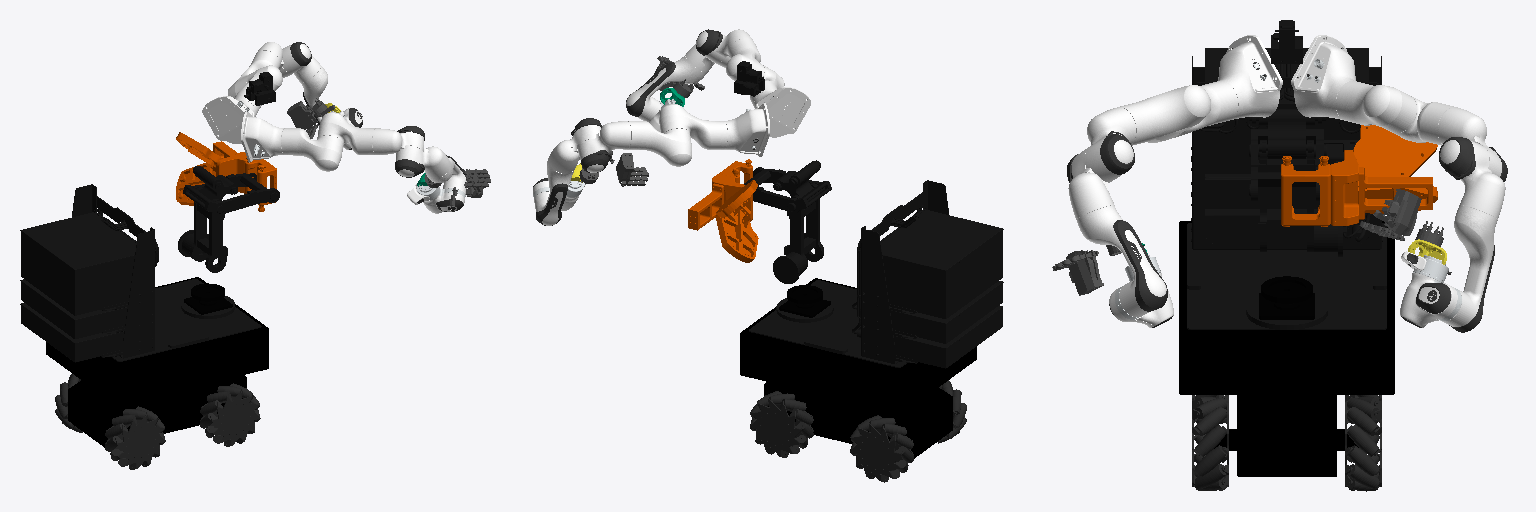
--- Facts derived from the render (not from the file) ---
Views: 3 orthographic renders of the robot side by side, from view 1: azimuth 30°, elevation 25°; view 2: azimuth 150°, elevation 25°; view 3: azimuth 270°, elevation 25°.
Robot: curi — 112 links, 111 joints (85 revolute, 4 continuous, 21 fixed, 1 floating); root link world; default pose: all joints at 0 but 2 set to mid-range because 0 is outside their limits (panda_left_joint4 = -1.57, panda_right_joint4 = -1.57).
Links seen in each view (by area): view 1: control_box, summit_xls_base_link, summit_xls_back_right_wheel_link, torso_end, summit_xls_front_right_wheel_link, torso_link_b2, torso_link_c1, panda_right_link1, panda_left_link0, panda_right_link0, panda_right_link4, panda_right_link2 (+11 smaller); view 2: control_box, summit_xls_base_link, torso_end, summit_xls_back_left_wheel_link, summit_xls_front_left_wheel_link, torso_link_b2, panda_right_link5, panda_left_link2, panda_right_link0, panda_left_link1, panda_left_link0, panda_left_link3 (+8 smaller); view 3: control_box, summit_xls_base_link, torso_end, panda_right_link5, panda_left_link0, panda_right_link0, panda_left_link5, summit_xls_front_right_wheel_link, summit_xls_front_left_wheel_link, panda_right_link2, panda_left_link4, panda_left_link1 (+15 smaller).
Boxes of the visible links, box(x1,y1,x2,y2) form: control_box: box(20, 184, 261, 362); summit_xls_base_link: box(46, 277, 268, 447); summit_xls_back_right_wheel_link: box(105, 406, 165, 469); torso_end: box(176, 132, 276, 211); summit_xls_front_right_wheel_link: box(200, 383, 260, 446); torso_link_b2: box(178, 187, 227, 272); torso_link_c1: box(183, 173, 279, 215); panda_right_link1: box(281, 128, 343, 171); panda_left_link0: box(202, 96, 255, 143); panda_right_link0: box(241, 111, 284, 162); panda_right_link4: box(395, 145, 449, 177); panda_right_link2: box(317, 112, 375, 154); control_box: box(749, 180, 1003, 368); summit_xls_base_link: box(740, 278, 976, 458); torso_end: box(688, 159, 758, 262); summit_xls_back_left_wheel_link: box(850, 415, 913, 482); summit_xls_front_left_wheel_link: box(750, 391, 813, 457); torso_link_b2: box(773, 183, 823, 283); panda_right_link5: box(626, 54, 706, 121); panda_left_link2: box(628, 121, 691, 166); panda_right_link0: box(754, 87, 810, 137); panda_left_link1: box(659, 104, 727, 149); panda_left_link0: box(724, 103, 769, 156); panda_left_link3: box(578, 121, 630, 172); control_box: box(1187, 48, 1386, 329); summit_xls_base_link: box(1179, 221, 1394, 476); torso_end: box(1281, 125, 1437, 226); panda_right_link5: box(1077, 205, 1167, 316); panda_left_link0: box(1291, 35, 1355, 119); panda_right_link0: box(1218, 35, 1282, 119); panda_left_link5: box(1440, 205, 1497, 332); summit_xls_front_right_wheel_link: box(1192, 397, 1228, 490); summit_xls_front_left_wheel_link: box(1345, 397, 1381, 491); panda_right_link2: box(1120, 85, 1210, 145); panda_left_link4: box(1439, 137, 1505, 219); panda_left_link1: box(1336, 81, 1416, 132).
Bounding box of the posed robot: 1.76 × 1.22 × 1.51 m (x, y, z).
73 mesh visuals loaded from 32 distinct referenced files (9 binary STL, 20 Collada DAE); not drawn: 3 (reference not matched to a file when rendering).

URDF robot description (curi):
<?xml version="1.0" ?>
<!-- =================================================================================== -->
<!-- |    This document was autogenerated by xacro from ../robots/curi.urdf.xacro      | -->
<!-- |    EDITING THIS FILE BY HAND IS NOT RECOMMENDED                                 | -->
<!-- =================================================================================== -->
<robot name="curi">
  <!-- in kg-->
  <!-- =============================================================== -->
  <!-- || This file does not contain official inertial properties   || -->
  <!-- || of panda robot. The values are from the identification    || -->
  <!-- || results published in: Identification of the Franka Emika  || -->
  <!-- || PandaRobot With Retrieval of Feasible Parameters Using    || -->
  <!-- || Penalty-Based Optimization                                || -->
  <!-- || by: Claudio Gaz, Marco Cognetti, Alexander Oliva,         || -->
  <!-- || Paolo Robuffo Giordano, Alessandro de Luca                || -->
  <!-- =============================================================== -->
  <link name="world"/>
  <material name="qbhand/optional">
  <color rgba="0.0 0.5 0.8 1.0"/>
  </material>
  <material name="qbhand/base">
    <color rgba="0.35 0.35 0.35 1.0"/>
  </material>
  <material name="qbhand/palm">
    <color rgba="0.35 0.35 0.35 1.0"/>
  </material>
  <material name="qbhand/knuckle">
    <color rgba="0.35 0.35 0.35 1.0"/>
  </material>
  <material name="qbhand/proximal">
    <color rgba="0.35 0.35 0.35 1.0"/>
  </material>
  <material name="qbhand/middle">
    <color rgba="0.35 0.35 0.35 1.0"/>
  </material>
  <material name="qbhand/distal">
    <color rgba="0.35 0.35 0.35 1.0"/>
  </material>
  <material name="qbhand/default">
    <color rgba="0.35 0.35 0.35 1.0"/>
  </material>
  <joint name="reference" type="floating">
    <parent link="world"/>
    <child link="summit_xls_base_footprint"/>
  </joint>
  <link name="summit_xls_base_footprint">
    <visual>
      <origin rpy="0 0 0" xyz="0 0 0"/>
      <geometry>
        <box size="0.001 0.001 0.001"/>
      </geometry>
    </visual>
  </link>
  <joint name="summit_xls_base_footprint_joint" type="fixed">
    <origin rpy="0 0 0" xyz="0 0 0.127"/>
    <parent link="summit_xls_base_footprint"/>
    <child link="summit_xls_base_link"/>
  </joint>
  <!-- BASE_LINK -->
  <link name="summit_xls_base_link">
    <inertial>
      <mass value="125.0"/>
      <origin xyz="0 0 0"/>
      <inertia ixx="1.391" ixy="0.004" ixz="0.0" iyy="6.853" iyz="0.0" izz="6.125"/>
    </inertial>
    <visual>
      <origin rpy="0 0 0" xyz="0 0 0"/>
      <geometry>
        <mesh filename="../meshes/robotnik/bases/summit_xls_chassis.dae"/>
      </geometry>
      <material name="black">
        <color rgba="0.0 0.0 0.0 1"/>
      </material>
    </visual>
    <collision>
      <origin rpy="0 0 0 " xyz="0 0 0"/>
      <geometry>
        <mesh filename="../meshes/robotnik/bases/summit_xls_chassis.stl"/>
      </geometry>
    </collision>
  </link>
  <joint name="summit_xls_front_right_wheel_joint" type="continuous">
    <parent link="summit_xls_base_link"/>
    <child link="summit_xls_front_right_wheel_link"/>
    <origin rpy="0 0 0" xyz="0.2225 -0.2045 0.0"/>
    <axis rpy="0 0 0" xyz="0 1 0"/>
    <limit effort="100" velocity="100"/>
    <joint_properties damping="0.0" friction="0.0"/>
  </joint>
  <link name="summit_xls_front_right_wheel_link">
    <visual>
      <origin rpy="0 0 0" xyz="0 0 0"/>
      <geometry>
        <mesh filename="../meshes/robotnik/wheels/omni_wheel_2.dae"/>
      </geometry>
      <material name="darkgrey">
        <color rgba="0.2 0.2 0.2 1"/>
      </material>
    </visual>
    <collision>
      <origin rpy="1.5707963267948966 0 0" xyz="0 0 0"/>
      <geometry>
        <cylinder length="0.087" radius="0.127"/>
      </geometry>
    </collision>
    <inertial>
      <mass value="6.5"/>
      <origin xyz="0 0 0"/>
      <inertia ixx="0.0303095" ixy="0" ixz="0" iyy="0.05241925" iyz="0" izz="0.0303095"/>
    </inertial>
  </link>
  <joint name="summit_xls_front_left_wheel_joint" type="continuous">
    <parent link="summit_xls_base_link"/>
    <child link="summit_xls_front_left_wheel_link"/>
    <origin rpy="0 0 0" xyz="0.2225 0.2045 0.0"/>
    <axis rpy="0 0 0" xyz="0 1 0"/>
    <limit effort="100" velocity="100"/>
    <joint_properties damping="0.0" friction="0.0"/>
  </joint>
  <link name="summit_xls_front_left_wheel_link">
    <visual>
      <origin rpy="0 0 0" xyz="0 0 0"/>
      <geometry>
        <mesh filename="../meshes/robotnik/wheels/omni_wheel_1.dae"/>
      </geometry>
      <material name="darkgrey">
        <color rgba="0.2 0.2 0.2 1"/>
      </material>
    </visual>
    <collision>
      <origin rpy="1.5707963267948966 0 0" xyz="0 0 0"/>
      <geometry>
        <cylinder length="0.087" radius="0.127"/>
      </geometry>
    </collision>
    <inertial>
      <mass value="6.5"/>
      <origin xyz="0 0 0"/>
      <inertia ixx="0.0303095" ixy="0" ixz="0" iyy="0.05241925" iyz="0" izz="0.0303095"/>
    </inertial>
  </link>
  <joint name="summit_xls_back_left_wheel_joint" type="continuous">
    <parent link="summit_xls_base_link"/>
    <child link="summit_xls_back_left_wheel_link"/>
    <origin rpy="0 0 0" xyz="-0.2225 0.2045 0.0"/>
    <axis rpy="0 0 0" xyz="0 1 0"/>
    <limit effort="100" velocity="100"/>
    <joint_properties damping="0.0" friction="0.0"/>
  </joint>
  <link name="summit_xls_back_left_wheel_link">
    <visual>
      <origin rpy="0 0 0" xyz="0 0 0"/>
      <geometry>
        <mesh filename="../meshes/robotnik/wheels/omni_wheel_1.dae"/>
      </geometry>
      <material name="darkgrey">
        <color rgba="0.2 0.2 0.2 1"/>
      </material>
    </visual>
    <collision>
      <origin rpy="1.5707963267948966 0 0" xyz="0 0 0"/>
      <geometry>
        <cylinder length="0.087" radius="0.127"/>
      </geometry>
    </collision>
    <inertial>
      <mass value="6.5"/>
      <origin xyz="0 0 0"/>
      <inertia ixx="0.0303095" ixy="0" ixz="0" iyy="0.05241925" iyz="0" izz="0.0303095"/>
    </inertial>
  </link>
  <joint name="summit_xls_back_right_wheel_joint" type="continuous">
    <parent link="summit_xls_base_link"/>
    <child link="summit_xls_back_right_wheel_link"/>
    <origin rpy="0 0 0" xyz="-0.2225 -0.2045 0.0"/>
    <axis rpy="0 0 0" xyz="0 1 0"/>
    <limit effort="100" velocity="100"/>
    <joint_properties damping="0.0" friction="0.0"/>
  </joint>
  <link name="summit_xls_back_right_wheel_link">
    <visual>
      <origin rpy="0 0 0" xyz="0 0 0"/>
      <geometry>
        <mesh filename="../meshes/robotnik/wheels/omni_wheel_2.dae"/>
      </geometry>
      <material name="darkgrey">
        <color rgba="0.2 0.2 0.2 1"/>
      </material>
    </visual>
    <collision>
      <origin rpy="1.5707963267948966 0 0" xyz="0 0 0"/>
      <geometry>
        <cylinder length="0.087" radius="0.127"/>
      </geometry>
    </collision>
    <inertial>
      <mass value="6.5"/>
      <origin xyz="0 0 0"/>
      <inertia ixx="0.0303095" ixy="0" ixz="0" iyy="0.05241925" iyz="0" izz="0.0303095"/>
    </inertial>
  </link>
  <joint name="torso_joint_summit_xls_base_footprint" type="fixed">
    <parent link="summit_xls_base_footprint"/>
    <child link="control_box"/>
    <origin rpy="0 0 0" xyz="0 0 0.52262"/>
  </joint>
  <link name="control_box">
    <visual>
      <origin rpy="0 0 0" xyz="0 0 0"/>
      <geometry>
        <mesh filename="../meshes/clover/visual/control_box.dae"/>
      </geometry>
    </visual>
    <inertial>
      <!-- Estimated guesses from CAD -->
      <origin rpy="0 0 0" xyz="-0.221652 1.4173e-02 0.165597"/>
      <mass value="37.813"/>
      <inertia ixx="1.672305973" ixy="-0.023504956" ixz="-0.565170381" iyy="2.616747309" iyz="0.046623093" izz="2.524344244"/>
    </inertial>
  </link>
  <link name="torso_base1">
    <visual>
      <origin rpy="0 0 0" xyz="0 0 0"/>
      <geometry>
        <mesh filename="../meshes/clover/visual/torso_base1.dae"/>
      </geometry>
    </visual>
    <collision>
      <origin rpy="0 0 0" xyz="0 0 0"/>
      <geometry>
        <mesh filename="../meshes/clover/collision/torso_base1.stl"/>
      </geometry>
    </collision>
    <inertial>
      <origin rpy="0 0 0" xyz="0 0 0.02555"/>
      <mass value="1.18"/>
      <inertia ixx="0.00241116" ixy="0" ixz="0" iyy="0.00241116" iyz="0" izz="0.00362611"/>
    </inertial>
  </link>
  <joint name="torso_joint1" type="fixed">
    <origin rpy="0 0 0" xyz="0.2375 0 0.015"/>
    <parent link="control_box"/>
    <child link="torso_base1"/>
  </joint>
  <link name="torso_base2">
    <visual>
      <origin rpy="0 0 0" xyz="0 0 0"/>
      <geometry>
        <mesh filename="../meshes/clover/visual/torso_base2.dae"/>
      </geometry>
    </visual>
    <collision>
      <origin rpy="0 0 0" xyz="0 0 0"/>
      <geometry>
        <mesh filename="../meshes/clover/collision/torso_base2.stl"/>
      </geometry>
    </collision>
    <inertial>
      <origin rpy="0 0 0" xyz="-0.05478 0.03332 -0.07616"/>
      <mass value="35.66"/>
      <inertia ixx="0.87275935" ixy="-0.06173772" ixz="0.01895727" iyy="0.57302356" iyz="0.11888755" izz="1.06212354"/>
    </inertial>
  </link>
  <joint name="torso_actuated_joint1" type="revolute">
    <safety_controller k_position="100.0" k_velocity="40.0" soft_lower_limit="-1.5" soft_upper_limit="1.5"/>
    <origin rpy="0 0 0" xyz="0 0 0.215"/>
    <parent link="torso_base1"/>
    <child link="torso_base2"/>
    <axis xyz="0 0 1"/>
    <limit acceleration="0.6" effort="300" lower="-1.57" upper="1.57" velocity="0.3"/>
    <dynamics D="1" K="7000" damping="0.003" friction="0.0" mu_coulomb="0" mu_viscous="16"/>
  </joint>
  <link name="torso_link_b2">
    <visual>
      <origin rpy="0 0 0" xyz="0 0 0"/>
      <geometry>
        <mesh filename="../meshes/clover/visual/torso_link_b2.dae"/>
      </geometry>
    </visual>
    <collision>
      <origin rpy="0 0 0" xyz="0 0 0"/>
      <geometry>
        <mesh filename="../meshes/clover/collision/torso_link_b2.stl"/>
      </geometry>
    </collision>
    <inertial>
      <origin rpy="0 0 0" xyz="2.066e-03 2.4036e-02 8.3361e-02"/>
      <mass value="2.698"/>
      <inertia ixx="0.035907338" ixy="-0.000134319" ixz="0.000037769" iyy="0.023944853" iyz="-0.005304362" izz="0.014484777"/>
    </inertial>
  </link>
  <joint name="torso_actuated_joint2" type="fixed">
    <origin rpy="0 0 0" xyz="0 0 0"/>
    <parent link="torso_base2"/>
    <child link="torso_link_b2"/>
  </joint>
  <link name="torso_middle">
    <visual>
      <origin rpy="0 0 0" xyz="0 0 0"/>
      <geometry>
        <mesh filename="../meshes/clover/visual/torso_middle.dae"/>
      </geometry>
    </visual>
    <collision>
      <origin rpy="0 0 0" xyz="0 0 0"/>
      <geometry>
        <mesh filename="../meshes/clover/collision/torso_middle.stl"/>
      </geometry>
    </collision>
    <inertial>
      <origin rpy="0 0 0" xyz="3.2089e-02 0 4.789e-02"/>
      <mass value="2.688"/>
      <inertia ixx="0.00744652" ixy="-0.00003495" ixz="0.000230038" iyy="0.006884728" iyz="0.000041279" izz="0.008084049"/>
    </inertial>
  </link>
  <joint name="torso_joint5" type="fixed">
    <origin rpy="0 0 0" xyz="0 0 0.25"/>
    <parent link="torso_link_b2"/>
    <child link="torso_middle"/>
  </joint>
  <link name="torso_link_c1">
    <visual>
      <origin rpy="0 0 0" xyz="0 0 0"/>
      <geometry>
        <mesh filename="../meshes/clover/visual/torso_link_c1.dae"/>
      </geometry>
    </visual>
    <collision>
      <origin rpy="0 0 0" xyz="0 0 0"/>
      <geometry>
        <mesh filename="../meshes/clover/collision/torso_link_c1.stl"/>
      </geometry>
    </collision>
    <inertial>
      <origin rpy="0 0 0" xyz="0.10533 1.503e-03 9.863e-03"/>
      <mass value="2.4"/>
      <inertia ixx="0.014986407" ixy="-1.7102e-05" ixz="-4.53321e-04" iyy="0.027549549" iyz="-3.557e-05" izz="0.041344611"/>
    </inertial>
  </link>
  <joint name="torso_actuated_joint3" type="fixed">
    <origin rpy="0 0 0" xyz="0 0 0"/>
    <parent link="torso_middle"/>
    <child link="torso_link_c1"/>
  </joint>
  <link name="torso_end">
    <visual>
      <origin rpy="0 0 0" xyz="0 0 0"/>
      <geometry>
        <mesh filename="../meshes/clover/visual/torso_end_v2_yup.dae"/>
      </geometry>
    </visual>
    <collision>
      <origin rpy="0 0 0" xyz="0 0 0"/>
      <geometry>
        <mesh filename="../meshes/clover/collision/torso_end_v2_yup.stl"/>
      </geometry>
    </collision>
    <inertial>
      <origin rpy="0 0 0" xyz="1.3086e-02 0.132e-03 0.184066"/>
      <mass value="12.083"/>
      <inertia ixx="0.146638956" ixy="-2.2432e-05" ixz="-0.012989506" iyy="0.097685785" iyz="-2.19304e-04" izz="0.100449047"/>
    </inertial>
  </link>
  <link name="shell">
    <visual>
      <origin rpy="0 0 0" xyz="0 0 0"/>
      <geometry>
        <mesh filename="../meshes/clover/visual/Shell_v2_Share_yup.dae"/>
      </geometry>
    </visual>
    <collision>
      <origin rpy="0 0 0" xyz="0 0 0"/>
      <geometry>
        <mesh filename="../meshes/clover/collision/Shell_v2_Share_yup.STL"/>
      </geometry>
    </collision>
    <inertial>
      <origin rpy="0 0 0" xyz="0.120384 0.569e-03 6.703e-03"/>
      <mass value="1.63531"/>
      <inertia ixx="0.010693997" ixy="5.645e-06" ixz="-9.4779e-04" iyy="0.026717753" iyz="-8.196e-06" izz="0.036543169"/>
    </inertial>
  </link>
  <joint name="shell_torso_end" type="fixed">
    <parent link="torso_end"/>
    <child link="shell"/>
    <origin rpy="0 0 0" xyz="0 0 0"/>
  </joint>
  <joint name="torso_joint8" type="fixed">
    <origin rpy="0 0 0" xyz="0.25 0 0"/>
    <parent link="torso_link_c1"/>
    <child link="torso_end"/>
  </joint>
  <joint name="head_joint_torso_end" type="fixed">
    <parent link="torso_end"/>
    <child link="head_base"/>
    <origin rpy="0 0 0" xyz="0.02 0 0.3929"/>
  </joint>
  <link name="head_base">
    <visual>
      <origin rpy="0 0 0" xyz="0 0 0"/>
      <geometry>
        <mesh filename="../meshes/clover/visual/head_base.dae"/>
      </geometry>
    </visual>
    <collision>
      <origin rpy="0 0 0" xyz="0 0 0"/>
      <geometry>
        <mesh filename="../meshes/clover/collision/head_base.stl"/>
      </geometry>
    </collision>
    <inertial>
      <!-- Estimated guesses from CAD -->
      <origin rpy="0 0 0" xyz="-1.9726e-02 1.281e-03 2.2693e-02"/>
      <mass value="0.803"/>
      <inertia ixx="6.56432e-04" ixy="-3.4976e-05" ixz="0.652e-6" iyy="6.42664e-04" iyz="-1.577e-06" izz="1.046862e-03"/>
    </inertial>
  </link>
  <joint name="head_actuated_joint1" type="revolute">
    <safety_controller k_position="100.0" k_velocity="40.0" soft_lower_limit="-1.5" soft_upper_limit="1.5"/>
    <origin rpy="0 0 0" xyz="0 0 0.045"/>
    <parent link="head_base"/>
    <child link="head_link1"/>
    <axis xyz="0 0 1"/>
    <limit effort="30" lower="-1.57" upper="1.57" velocity="1.0"/>
    <dynamics D="1" K="7000" damping="0.003" friction="0.0" mu_coulomb="0" mu_viscous="16"/>
  </joint>
  <link name="head_link1">
    <visual>
      <origin rpy="0 0 0" xyz="0 0 0"/>
      <geometry>
        <mesh filename="../meshes/clover/visual/head_link1.dae"/>
      </geometry>
    </visual>
    <collision>
      <origin rpy="0 0 0" xyz="0 0 0"/>
      <geometry>
        <mesh filename="../meshes/clover/collision/head_link1.stl"/>
      </geometry>
    </collision>
    <inertial>
      <!-- Estimated guesses from CAD -->
      <origin rpy="0 0 0" xyz="-1.8392e-02 -0.4e-03 2.8338e-02"/>
      <mass value="0.534"/>
      <inertia ixx="2.34142e-04" ixy="-3.129e-06" ixz="6.321e-05" iyy="5.09246e-04" iyz="1.49e-06" izz="4.3777e-04"/>
    </inertial>
  </link>
  <joint name="head_actuated_joint2" type="revolute">
    <safety_controller k_position="100.0" k_velocity="40.0" soft_lower_limit="-0.8" soft_upper_limit="0.5"/>
    <origin rpy="0 0 0" xyz="0 0 0.043"/>
    <parent link="head_link1"/>
    <child link="head_link2"/>
    <axis xyz="0 1 0"/>
    <limit effort="30" lower="-0.82" upper="0.52" velocity="1.0"/>
    <dynamics D="1" K="7000" damping="0.003" friction="0.0" mu_coulomb="0" mu_viscous="16"/>
  </joint>
  <link name="head_link2">
    <visual>
      <origin rpy="0 0 0" xyz="0 0 0"/>
      <geometry>
        <mesh filename="../meshes/clover/visual/head_link2.dae"/>
      </geometry>
    </visual>
    <collision>
      <origin rpy="0 0 0" xyz="0 0 0"/>
      <geometry>
        <mesh filename="../meshes/clover/collision/head_link2.stl"/>
      </geometry>
    </collision>
    <inertial>
      <!-- Estimated guesses from CAD -->
      <origin rpy="0 0 0" xyz="3.8624e-02 0 0.143829"/>
      <mass value="1.346"/>
      <inertia ixx="0.010306864" ixy="-5.953e-06" ixz="6.74795e-04" iyy="0.011632066" iyz="-1.125e-06" izz="0.009582498"/>
    </inertial>
  </link>
  <joint name="panda_left_joint_torso_end" type="fixed">
    <parent link="torso_end"/>
    <child link="panda_left_link0"/>
    <origin rpy="-1.3685238493647454 0.913218224774749 -0.6168337646727412" xyz="-0.08537 0.07009 0.2535"/>
  </joint>
  <link name="panda_left_link0">
    <visual>
      <origin rpy="0 0 0" xyz="0 0 0"/>
      <geometry>
        <mesh filename="../meshes/franka/visual/link0.dae"/>
      </geometry>
    </visual>
    <collision>
      <origin rpy="0 0 0" xyz="0 0 0"/>
      <geometry>
        <mesh filename="../meshes/franka/collision/link0.stl"/>
      </geometry>
    </collision>
    <inertial>
      <!-- Estimated guesses from CAD -->
      <origin rpy="0 0 0" xyz="-0.041018 -0.00014 0.049974"/>
      <mass value="0.629769"/>
      <inertia ixx="0.00315" ixy="8.2904E-07" ixz="0.00015" iyy="0.00388" iyz="8.2299E-06" izz="0.004285"/>
    </inertial>
  </link>
  <link name="panda_left_link1">
    <visual>
      <origin rpy="0 0 0" xyz="0 0 0"/>
      <geometry>
        <mesh filename="../meshes/franka/visual/link1.dae"/>
      </geometry>
    </visual>
    <collision>
      <origin rpy="0 0 0" xyz="0 0 0"/>
      <geometry>
        <mesh filename="../meshes/franka/collision/link1.stl"/>
      </geometry>
    </collision>
    <inertial>
      <origin rpy="0 0 0" xyz="0.003875 0.002081 -0.04762"/>
      <mass value="4.970684"/>
      <inertia ixx="0.70337" ixy="-0.00013900" ixz="0.0067720" iyy="0.70661" iyz="0.019169" izz="0.0091170"/>
    </inertial>
  </link>
  <joint name="panda_left_joint1" type="revolute">
    <safety_controller k_position="100.0" k_velocity="40.0" soft_lower_limit="-2.8973" soft_upper_limit="2.8973"/>
    <origin rpy="0 0 0" xyz="0 0 0.333"/>
    <parent link="panda_left_link0"/>
    <child link="panda_left_link1"/>
    <axis xyz="0 0 1"/>
    <limit acceleration="15" effort="87" lower="-2.8973" upper="2.8973" velocity="2.1750"/>
    <dynamics D="1" K="7000" damping="0.003" friction="0.0" mu_coulomb="0" mu_viscous="16"/>
  </joint>
  <link name="panda_left_link2">
    <visual>
      <origin rpy="0 0 0" xyz="0 0 0"/>
      <geometry>
        <mesh filename="../meshes/franka/visual/link2.dae"/>
      </geometry>
    </visual>
    <collision>
      <origin rpy="0 0 0" xyz="0 0 0"/>
      <geometry>
        <mesh filename="../meshes/franka/collision/link2.stl"/>
      </geometry>
    </collision>
    <inertial>
      <origin rpy="0 0 0" xyz=" -0.003141 -0.02872  0.003495"/>
      <mass value="0.646926"/>
      <inertia ixx="0.0079620" ixy="-3.9250e-3" ixz="1.0254e-02" iyy="2.8110e-02" iyz="7.0400e-04" izz="2.5995e-02"/>
    </inertial>
  </link>
  <joint name="panda_left_joint2" type="revolute">
    <safety_controller k_position="100.0" k_velocity="40.0" soft_lower_limit="-1.7628" soft_upper_limit="1.7628"/>
    <origin rpy="-1.5707963267948966 0 0" xyz="0 0 0"/>
    <parent link="panda_left_link1"/>
    <child link="panda_left_link2"/>
    <axis xyz="0 0 1"/>
    <limit acceleration="7.5" effort="87" lower="-1.7628" upper="1.7628" velocity="2.1750"/>
    <dynamics D="1" K="7000" damping="0.003" friction="0.0" mu_coulomb="0" mu_viscous="16"/>
  </joint>
  <link name="panda_left_link3">
    <visual>
      <origin rpy="0 0 0" xyz="0 0 0"/>
      <geometry>
        <mesh filename="../meshes/franka/visual/link3.dae"/>
      </geometry>
    </visual>
    <collision>
      <origin rpy="0 0 0" xyz="0 0 0"/>
      <geometry>
        <mesh filename="../meshes/franka/collision/link3.stl"/>
      </geometry>
    </collision>
    <inertial>
      <origin rpy="0 0 0" xyz="2.7518e-02 3.9252e-02 -6.6502e-02"/>
      <mass value="3.228604"/>
      <inertia ixx="3.7242e-02" ixy="-4.7610e-03" ixz="-1.1396e-02" iyy="3.6155e-02" iyz="-1.2805e-02" izz="1.0830e-02"/>
    </inertial>
  </link>
  <joint name="panda_left_joint3" type="revolute">
    <safety_controller k_position="100.0" k_velocity="40.0" soft_lower_limit="-2.8973" soft_upper_limit="2.8973"/>
    <origin rpy="1.5707963267948966 0 0" xyz="0 -0.316 0"/>
    <parent link="panda_left_link2"/>
    <child link="panda_left_link3"/>
    <axis xyz="0 0 1"/>
    <limit acceleration="12.5" effort="87" lower="-2.8973" upper="2.8973" velocity="2.1750"/>
    <dynamics D="1" K="7000" damping="0.003" friction="0.0" mu_coulomb="0" mu_viscous="16"/>
  </joint>
  <link name="panda_left_link4">
    <visual>
      <origin rpy="0 0 0" xyz="0 0 0"/>
      <geometry>
        <mesh filename="../meshes/franka/visual/link4.dae"/>
      </geometry>
    </visual>
    <collision>
      <origin rpy="0 0 0" xyz="0 0 0"/>
      <geometry>
        <mesh filename="../meshes/franka/collision/link4.stl"/>
      </geometry>
    </collision>
    <inertial>
      <origin rpy="0 0 0" xyz="-5.317e-02 1.04419e-01 2.7454e-02"/>
      <mass value="3.587895"/>
      <inertia ixx="2.5853e-02" ixy="7.7960e-03" ixz="-1.3320e-03" iyy="1.9552e-02" iyz="8.6410e-03" izz="2.8323e-02"/>
    </inertial>
  </link>
  <joint name="panda_left_joint4" type="revolute">
    <safety_controller k_position="100.0" k_velocity="40.0" soft_lower_limit="-3.0718" soft_upper_limit="-0.0698"/>
    <origin rpy="1.5707963267948966 0 0" xyz="0.0825 0 0"/>
    <parent link="panda_left_link3"/>
    <child link="panda_left_link4"/>
    <axis xyz="0 0 1"/>
    <limit acceleration="12.5" effort="87" lower="-3.0718" upper="-0.0698" velocity="2.1750"/>
    <dynamics D="1" K="7000" damping="0.003" friction="0.0" mu_coulomb="0" mu_viscous="16"/>
  </joint>
  <link name="panda_left_link5">
    <visual>
      <origin rpy="0 0 0" xyz="0 0 0"/>
      <geometry>
        <mesh filename="../meshes/franka/visual/link5.dae"/>
      </geometry>
    </visual>
    <collision>
      <origin rpy="0 0 0" xyz="0 0 0"/>
      <geometry>
        <mesh filename="../meshes/franka/collision/link5.stl"/>
      </geometry>
    </collision>
    <inertial>
      <origin rpy="0 0 0" xyz="-1.1953e-02 4.1065e-02 -3.8437e-02"/>
      <mass value="1.225946"/>
      <inertia ixx="3.5549e-02" ixy="-2.1170e-03" ixz="-4.0370e-03" iyy="2.9474e-02" iyz="2.2900e-04" izz="8.6270e-03"/>
    </inertial>
  </link>
  <joint name="panda_left_joint5" type="revolute">
    <safety_controller k_position="100.0" k_velocity="40.0" soft_lower_limit="-2.8973" soft_upper_limit="2.8973"/>
    <origin rpy="-1.5707963267948966 0 0" xyz="-0.0825 0.384 0"/>
    <parent link="panda_left_link4"/>
    <child link="panda_left_link5"/>
    <axis xyz="0 0 1"/>
    <limit acceleration="15" effort="12" lower="-2.8973" upper="2.8973" velocity="2.6100"/>
    <dynamics D="1" K="7000" damping="0.003" friction="0.0" mu_coulomb="0" mu_viscous="16"/>
  </joint>
  <link name="panda_left_link6">
    <visual>
      <origin rpy="0 0 0" xyz="0 0 0"/>
      <geometry>
        <mesh filename="../meshes/franka/visual/link6.dae"/>
      </geometry>
    </visual>
    <collision>
      <origin rpy="0 0 0" xyz="0 0 0"/>
      <geometry>
        <mesh filename="../meshes/franka/collision/link6.stl"/>
      </geometry>
    </collision>
    <inertial>
      <origin rpy="0 0 0" xyz="6.0149e-02 -1.4117e-02 -1.0517e-02"/>
      <mass value="1.666555"/>
      <inertia ixx="1.9640e-03" ixy="1.0900e-04" ixz="-1.1580e-03" iyy="4.3540e-03" iyz="3.4100e-04" izz="5.4330e-03"/>
    </inertial>
  </link>
  <joint name="panda_left_joint6" type="revolute">
    <safety_controller k_position="100.0" k_velocity="40.0" soft_lower_limit="-0.0175" soft_upper_limit="3.7525"/>
    <origin rpy="1.5707963267948966 0 0" xyz="0 0 0"/>
    <parent link="panda_left_link5"/>
    <child link="panda_left_link6"/>
    <axis xyz="0 0 1"/>
    <limit acceleration="20" effort="12" lower="-0.0175" upper="3.7525" velocity="2.6100"/>
    <dynamics D="1" K="7000" damping="0.003" friction="0.0" mu_coulomb="0" mu_viscous="16"/>
  </joint>
  <link name="panda_left_link7">
    <visual>
      <origin rpy="0 0 0" xyz="0 0 0"/>
      <geometry>
        <mesh filename="../meshes/franka/visual/link7.dae"/>
      </geometry>
    </visual>
    <collision>
      <origin rpy="0 0 0" xyz="0 0 0"/>
      <geometry>
        <mesh filename="../meshes/franka/collision/link7.stl"/>
      </geometry>
    </collision>
    <inertial>
      <origin rpy="0 0 0" xyz="1.0517e-02 -4.252e-03 6.1597e-02"/>
      <mass value="7.35522e-01"/>
      <inertia ixx="1.2516e-02" ixy="-4.2800e-04" ixz="-1.1960e-03" iyy="1.0027e-02" iyz="-7.4100e-04" izz="4.8150e-03"/>
    </inertial>
  </link>
  <joint name="panda_left_joint7" type="revolute">
    <safety_controller k_position="100.0" k_velocity="40.0" soft_lower_limit="-2.8973" soft_upper_limit="2.8973"/>
    <origin rpy="1.5707963267948966 0 0" xyz="0.088 0 0"/>
    <parent link="panda_left_link6"/>
    <child link="panda_left_link7"/>
    <axis xyz="0 0 1"/>
    <limit acceleration="20" effort="12" lower="-2.8973" upper="2.8973" velocity="2.6100"/>
    <dynamics D="1" K="7000" damping="0.003" friction="0.0" mu_coulomb="0" mu_viscous="16"/>
  </joint>
  <joint name="panda_left_end_effector_joint" type="fixed">
    <parent link="panda_left_link7"/>
    <child link="left_hand_root_link"/>
    <origin rpy="0 0 -0.7853981633974483" xyz="0 0 0.107"/>
  </joint>
  <link name="left_hand_root_link"/>
  <joint name="left_qbhand_flange_joint" type="fixed">
    <origin rpy="0 0 0.7854" xyz="0 0 0"/>
    <parent link="left_hand_root_link"/>
    <child link="flange90_l"/>
  </joint>
  <link name="flange90_l">
    <visual>
      <origin rpy="0 0 0" xyz="0 0 0"/>
      <geometry>
        <mesh filename="../meshes/clover/visual/flange90_yup.dae"/>
      </geometry>
    </visual>
    <collision>
      <origin rpy="0 0 0" xyz="0 0 0"/>
      <geometry>
        <mesh filename="../meshes/clover/visual/flange90_yup.STL"/>
      </geometry>
    </collision>
  </link>
  <joint name="left_qbhand_base_fixed_joint" type="fixed">
    <origin rpy="1.5708 0 1.5708" xyz="0.046 0 0.038"/>
    <parent link="flange90_l"/>
    <child link="left_qbhand_base_link"/>
  </joint>
  <link name="left_qbhand_base_link">
    <inertial>
      <mass value="0.205"/>
      <origin rpy="0 0 0" xyz="0.0 7.8738498e-04 1.5878899e-02"/>
      <inertia ixx="0.00012506929" ixy="0.0" ixz="0.0" iyy="0.0001338779" iyz="0.0" izz="0.00019218394"/>
    </inertial>
    <visual>
      <origin rpy="0 0 0" xyz="0 0 0"/>
      <geometry>
        <mesh filename="../meshes/qbhand/flange_iso_04_yupzfront.STL" scale="1 1 1"/>
      </geometry>
      <material name="qbhand/base">
        <color rgba="0.35 0.35 0.35 1.0"/>
      </material>
    </visual>
    <collision>
      <origin rpy="0 0 0" xyz="0 0 0"/>
      <geometry>
        <mesh filename="../meshes/qbhand/flange_iso_04_yupzfront.STL" scale="1 1 1"/>
      </geometry>
    </collision>
  </link>
  <joint name="left_qbhand_palm_fixed_joint" type="fixed">
    <origin rpy="1.57 0 3.14" xyz="0.0045 0.0145 0.144"/>
    <parent link="left_qbhand_base_link"/>
    <child link="left_qbhand_palm_link"/>
  </joint>
  <link name="left_qbhand_palm_link">
    <inertial>
      <mass value="0.45"/>
      <origin rpy="0 0 0" xyz="0.0030 -0.0449 -0.0135"/>
      <inertia ixx="0.00045" ixy="0.0" ixz="0.0" iyy="0.0006" iyz="0.0" izz="0.00025"/>
    </inertial>
    <visual>
      <origin rpy="0 0 0" xyz="0 0 0"/>
      <geometry>
        <mesh filename="../meshes/qbhand/palm_pinch_l_yupzfront1.STL" scale="1000 1000 1000"/>
      </geometry>
      <material name="qbhand/palm">
        <color rgba="0.35 0.35 0.35 1.0"/>
      </material>
    </visual>
    <collision>
      <origin rpy="0 0 0" xyz="0 0 0"/>
      <geometry>
        <mesh filename="../meshes/qbhand/palm_pinch_l_yupzfront1.STL" scale="1000 1000 1000"/>
      </geometry>
    </collision>
  </link>
  <joint name="left_qbhand_synergy_joint" type="revolute">
    <origin rpy="0 0 0" xyz="0 0 0"/>
    <parent link="left_qbhand_palm_link"/>
    <child link="left_qbhand_synergy_tendon_virtual_link"/>
    <axis xyz="0 0 1"/>
    <dynamics damping="0.0" friction="0.0"/>
    <limit effort="100" lower="0.0" upper="1.0" velocity="100"/>
  </joint>
  <link name="left_qbhand_synergy_tendon_virtual_link">
    <inertial>
      <origin rpy="0 0 0" xyz="0 0 0"/>
      <mass value="1e-4"/>
      <inertia ixx="1e-9" ixy="0.0" ixz="0.0" iyy="1e-9" iyz="0.0" izz="1e-9"/>
    </inertial>
  </link>
  <joint name="left_qbhand_thumb_knuckle_joint" type="revolute">
    <origin rpy="-1.57 3.14 0.0" xyz="-0.044 -0.0465 0.002"/>
    <parent link="left_qbhand_palm_link"/>
    <child link="left_qbhand_thumb_knuckle_link"/>
    <axis xyz="0 0 1"/>
    <dynamics damping="0.0" friction="0.0"/>
    <limit effort="100" lower="0.0" upper="1.571" velocity="100"/>
    <mimic joint="left_qbhand_synergy_joint" multiplier="2.542"/>
  </joint>
  <link name="left_qbhand_thumb_knuckle_link">
    <inertial>
      <mass value="0.01"/>
      <origin rpy="0 0 0" xyz="1.3071561e-02 2.7346340e-03 6.4090487e-04"/>
      <inertia ixx="3.5827953e-07" ixy="-2.0934657e-07" ixz="-6.8435459e-08" iyy="1.3882698e-06" iyz="-3.2001578e-08" izz="1.3570267e-06"/>
    </inertial>
    <visual>
      <origin rpy="0 0 0" xyz="0 0 0"/>
      <geometry>
        <mesh filename="../meshes/qbhand/ph_thumb_l_yupzfront1.STL" scale="1 1 1"/>
      </geometry>
      <material name="qbhand/knuckle">
        <color rgba="0.35 0.35 0.35 1.0"/>
      </material>
    </visual>
    <collision>
      <origin rpy="0 0 0" xyz="0 0 0"/>
      <geometry>
        <mesh filename="../meshes/qbhand/ph_thumb_l_yupzfront1.STL" scale="1 1 1"/>
      </geometry>
    </collision>
  </link>
  <joint name="left_qbhand_thumb_proximal_joint" type="revolute">
    <origin rpy="-2.0 0.0 0.0" xyz="0.0255 0.0038 -0.00012"/>
    <parent link="left_qbhand_thumb_knuckle_link"/>
    <child link="left_qbhand_thumb_proximal_virtual_link"/>
    <axis xyz="0 0 -1"/>
    <dynamics damping="0.0" friction="0.0"/>
    <limit effort="100" lower="0.0" upper="0.785" velocity="100"/>
    <mimic joint="left_qbhand_synergy_joint" multiplier="0.785"/>
  </joint>
  <link name="left_qbhand_thumb_proximal_virtual_link">
    <inertial>
      <origin rpy="0 0 0" xyz="0 0 0"/>
      <mass value="1e-4"/>
      <inertia ixx="1e-9" ixy="0.0" ixz="0.0" iyy="1e-9" iyz="0.0" izz="1e-9"/>
    </inertial>
  </link>
  <joint name="left_qbhand_thumb_proximal_virtual_joint" type="revolute">
    <origin rpy="0 0 0" xyz="0.013 0 0"/>
    <parent link="left_qbhand_thumb_proximal_virtual_link"/>
    <child link="left_qbhand_thumb_proximal_link"/>
    <axis xyz="0 0 -1"/>
    <dynamics damping="0.0" friction="0.0"/>
    <limit effort="100" lower="0.0" upper="0.785" velocity="100"/>
    <mimic joint="left_qbhand_thumb_proximal_joint" multiplier="1.0"/>
  </joint>
  <link name="left_qbhand_thumb_proximal_link">
    <inertial>
      <mass value="0.0063"/>
      <origin rpy="0 0 0" xyz="4.7601567e-03 -1.3786947e-03 0.0"/>
      <inertia ixx="1.8024201e-07" ixy="5.756798e-09" ixz="0.0" iyy="2.3516266e-07" iyz="0.0" izz="2.691504e-07"/>
    </inertial>
    <visual>
      <origin rpy="0 0 0" xyz="0 0 0"/>
      <geometry>
        <mesh filename="../meshes/qbhand/ph_short_yupzfront1.STL" scale="1 1 1"/>
      </geometry>
      <material name="qbhand/proximal">
        <color rgba="0.35 0.35 0.35 1.0"/>
      </material>
    </visual>
    <collision>
      <origin rpy="0 0 0" xyz="0 0 0"/>
      <geometry>
        <mesh filename="../meshes/qbhand/ph_short_yupzfront1.STL" scale="1 1 1"/>
      </geometry>
    </collision>
  </link>
  <joint name="left_qbhand_thumb_distal_joint" type="revolute">
    <origin rpy="0 0 0" xyz="0.009 0 0"/>
    <parent link="left_qbhand_thumb_proximal_link"/>
    <child link="left_qbhand_thumb_distal_virtual_link"/>
    <axis xyz="0 0 -1"/>
    <dynamics damping="0.0" friction="0.0"/>
    <limit effort="100" lower="0.0" upper="0.785" velocity="100"/>
    <mimic joint="left_qbhand_synergy_joint" multiplier="0.785"/>
  </joint>
  <link name="left_qbhand_thumb_distal_virtual_link">
    <inertial>
      <origin rpy="0 0 0" xyz="0 0 0"/>
      <mass value="1e-4"/>
      <inertia ixx="1e-9" ixy="0.0" ixz="0.0" iyy="1e-9" iyz="0.0" izz="1e-9"/>
    </inertial>
  </link>
  <joint name="left_qbhand_thumb_distal_virtual_joint" type="revolute">
    <origin rpy="0 0 0" xyz="0.013 0 0"/>
    <parent link="left_qbhand_thumb_distal_virtual_link"/>
    <child link="left_qbhand_thumb_distal_link"/>
    <axis xyz="0 0 -1"/>
    <dynamics damping="0.0" friction="0.0"/>
    <limit effort="100" lower="0.0" upper="0.785" velocity="100"/>
    <mimic joint="left_qbhand_thumb_distal_joint" multiplier="1.0"/>
  </joint>
  <link name="left_qbhand_thumb_distal_link">
    <inertial>
      <mass value="0.009"/>
      <origin rpy="0 0 0" xyz="8.8025467e-03 -1.7219289e-03 0.0"/>
      <inertia ixx="2.6586142e-07" ixy="1.2416847e-08" ixz="0.0" iyy="5.9935767e-07" iyz="0.0" izz="6.6781963e-07"/>
    </inertial>
    <visual>
      <origin rpy="0 0 0" xyz="0 0 0"/>
      <geometry>
        <mesh filename="../meshes/qbhand/ph_distal_yupzfront1.STL" scale="1 1 1"/>
      </geometry>
      <material name="qbhand/distal">
        <color rgba="0.35 0.35 0.35 1.0"/>
      </material>
    </visual>
    <collision>
      <origin rpy="0 0 0" xyz="0 0 0"/>
      <geometry>
        <mesh filename="../meshes/qbhand/ph_distal_yupzfront1.STL" scale="1 1 1"/>
      </geometry>
    </collision>
  </link>
  <joint name="left_qbhand_index_knuckle_joint" type="revolute">
    <origin rpy="0 3.14 -1.57" xyz="-0.02 -0.007 -0.014"/>
    <parent link="left_qbhand_palm_link"/>
    <child link="left_qbhand_index_knuckle_link"/>
    <axis xyz="0 0 -1"/>
    <dynamics damping="0.0" friction="0.0"/>
    <limit effort="100" lower="-0.524" upper="0.524" velocity="100"/>
    <mimic joint="left_qbhand_synergy_joint" multiplier="0.2"/>
  </joint>
  <link name="left_qbhand_index_knuckle_link">
    <inertial>
      <mass value="0.0095"/>
      <origin rpy="0 0 0" xyz="4.2753603e-04  0.0 -1.4321738e-03"/>
      <inertia ixx="6.4337303e-07" ixy="0.0" ixz="-3.9373913e-08" iyy="1.1253771e-06" iyz="0.0" izz="7.2336948e-07"/>
    </inertial>
    <visual>
      <origin rpy="0 0 0" xyz="0 0 0"/>
      <geometry>
        <mesh filename="../meshes/qbhand/ph_knuckle_yupzfront1.STL" scale="1 1 1"/>
      </geometry>
      <material name="qbhand/knuckle">
        <color rgba="0.35 0.35 0.35 1.0"/>
      </material>
    </visual>
    <collision>
      <origin rpy="0 0 0" xyz="0 0 0"/>
      <geometry>
        <mesh filename="../meshes/qbhand/ph_knuckle_yupzfront1.STL" scale="1 1 1"/>
      </geometry>
    </collision>
  </link>
  <joint name="left_qbhand_index_proximal_joint" type="revolute">
    <origin rpy="1.57 0 0" xyz="0.009 0 0"/>
    <parent link="left_qbhand_index_knuckle_link"/>
    <child link="left_qbhand_index_proximal_virtual_link"/>
    <axis xyz="0 0 -1"/>
    <dynamics damping="0.0" friction="0.0"/>
    <limit effort="100" lower="0.0" upper="0.785" velocity="100"/>
    <mimic joint="left_qbhand_synergy_joint" multiplier="0.785"/>
  </joint>
  <link name="left_qbhand_index_proximal_virtual_link">
    <inertial>
      <origin rpy="0 0 0" xyz="0 0 0"/>
      <mass value="1e-4"/>
      <inertia ixx="1e-9" ixy="0.0" ixz="0.0" iyy="1e-9" iyz="0.0" izz="1e-9"/>
    </inertial>
  </link>
  <joint name="left_qbhand_index_proximal_virtual_joint" type="revolute">
    <origin rpy="0 0 0" xyz="0.013 0 0"/>
    <parent link="left_qbhand_index_proximal_virtual_link"/>
    <child link="left_qbhand_index_proximal_link"/>
    <axis xyz="0 0 -1"/>
    <dynamics damping="0.0" friction="0.0"/>
    <limit effort="100" lower="0.0" upper="0.785" velocity="100"/>
    <mimic joint="left_qbhand_index_proximal_joint" multiplier="1.0"/>
  </joint>
  <link name="left_qbhand_index_proximal_link">
    <inertial>
      <mass value="0.0082"/>
      <origin rpy="0 0 0" xyz="8.7707437e-03 -1.7863138e-03 0.0"/>
      <inertia ixx="2.2722068e-07" ixy="1.1586053e-08" ixz="0.0" iyy="5.5947233e-07" iyz="0.0" izz="5.9562195e-07"/>
    </inertial>
    <visual>
      <origin rpy="0 0 0" xyz="0 0 0"/>
      <geometry>
        <mesh filename="../meshes/qbhand/ph_medium_yupzfront1.STL" scale="1 1 1"/>
      </geometry>
      <material name="qbhand/proximal">
        <color rgba="0.35 0.35 0.35 1.0"/>
      </material>
    </visual>
    <collision>
      <origin rpy="0 0 0" xyz="0 0 0"/>
      <geometry>
        <mesh filename="../meshes/qbhand/ph_medium_yupzfront1.STL" scale="1 1 1"/>
      </geometry>
    </collision>
  </link>
  <joint name="left_qbhand_index_middle_joint" type="revolute">
    <origin rpy="0 0 0" xyz="0.017 0 0"/>
    <parent link="left_qbhand_index_proximal_link"/>
    <child link="left_qbhand_index_middle_virtual_link"/>
    <axis xyz="0 0 -1"/>
    <dynamics damping="0.0" friction="0.0"/>
    <limit effort="100" lower="0.0" upper="0.785" velocity="100"/>
    <mimic joint="left_qbhand_synergy_joint" multiplier="0.785"/>
  </joint>
  <link name="left_qbhand_index_middle_virtual_link">
    <inertial>
      <origin rpy="0 0 0" xyz="0 0 0"/>
      <mass value="1e-4"/>
      <inertia ixx="1e-9" ixy="0.0" ixz="0.0" iyy="1e-9" iyz="0.0" izz="1e-9"/>
    </inertial>
  </link>
  <joint name="left_qbhand_index_middle_virtual_joint" type="revolute">
    <origin rpy="0 0 0" xyz="0.013 0 0"/>
    <parent link="left_qbhand_index_middle_virtual_link"/>
    <child link="left_qbhand_index_middle_link"/>
    <axis xyz="0 0 -1"/>
    <dynamics damping="0.0" friction="0.0"/>
    <limit effort="100" lower="0.0" upper="0.785" velocity="100"/>
    <mimic joint="left_qbhand_index_middle_joint" multiplier="1.0"/>
  </joint>
  <link name="left_qbhand_index_middle_link">
    <inertial>
      <mass value="0.0063"/>
      <origin rpy="0 0 0" xyz="4.7601567e-03 -1.3786947e-03 0.0"/>
      <inertia ixx="1.8024201e-07" ixy="5.756798e-09" ixz="0.0" iyy="2.3516266e-07" iyz="0.0" izz="2.691504e-07"/>
    </inertial>
    <visual>
      <origin rpy="0 0 0" xyz="0 0 0"/>
      <geometry>
        <mesh filename="../meshes/qbhand/ph_short_yupzfront1.STL" scale="1 1 1"/>
      </geometry>
      <material name="qbhand/middle">
        <color rgba="0.35 0.35 0.35 1.0"/>
      </material>
    </visual>
    <collision>
      <origin rpy="0 0 0" xyz="0 0 0"/>
      <geometry>
        <mesh filename="../meshes/qbhand/ph_short_yupzfront1.STL" scale="1 1 1"/>
      </geometry>
    </collision>
  </link>
  <joint name="left_qbhand_index_distal_joint" type="revolute">
    <origin rpy="0 0 0" xyz="0.009 0 0"/>
    <parent link="left_qbhand_index_middle_link"/>
    <child link="left_qbhand_index_distal_virtual_link"/>
    <axis xyz="0 0 -1"/>
    <dynamics damping="0.0" friction="0.0"/>
    <limit effort="100" lower="0.0" upper="0.785" velocity="100"/>
    <mimic joint="left_qbhand_synergy_joint" multiplier="0.785"/>
  </joint>
  <link name="left_qbhand_index_distal_virtual_link">
    <inertial>
      <origin rpy="0 0 0" xyz="0 0 0"/>
      <mass value="1e-4"/>
      <inertia ixx="1e-9" ixy="0.0" ixz="0.0" iyy="1e-9" iyz="0.0" izz="1e-9"/>
    </inertial>
  </link>
  <joint name="left_qbhand_index_distal_virtual_joint" type="revolute">
    <origin rpy="0 0 0" xyz="0.013 0 0"/>
    <parent link="left_qbhand_index_distal_virtual_link"/>
    <child link="left_qbhand_index_distal_link"/>
    <axis xyz="0 0 -1"/>
    <dynamics damping="0.0" friction="0.0"/>
    <limit effort="100" lower="0.0" upper="0.785" velocity="100"/>
    <mimic joint="left_qbhand_index_distal_joint" multiplier="1.0"/>
  </joint>
  <link name="left_qbhand_index_distal_link">
    <inertial>
      <mass value="0.009"/>
      <origin rpy="0 0 0" xyz="8.8025467e-03 -1.7219289e-03 0.0"/>
      <inertia ixx="2.6586142e-07" ixy="1.2416847e-08" ixz="0.0" iyy="5.9935767e-07" iyz="0.0" izz="6.6781963e-07"/>
    </inertial>
    <visual>
      <origin rpy="0 0 0" xyz="0 0 0"/>
      <geometry>
        <mesh filename="../meshes/qbhand/ph_distal_yupzfront1.STL" scale="1 1 1"/>
      </geometry>
      <material name="qbhand/distal">
        <color rgba="0.35 0.35 0.35 1.0"/>
      </material>
    </visual>
    <collision>
      <origin rpy="0 0 0" xyz="0 0 0"/>
      <geometry>
        <mesh filename="../meshes/qbhand/ph_distal_yupzfront1.STL" scale="1 1 1"/>
      </geometry>
    </collision>
  </link>
  <joint name="left_qbhand_middle_knuckle_joint" type="revolute">
    <origin rpy="0 3.14 -1.57" xyz="0 0 -0.014"/>
    <parent link="left_qbhand_palm_link"/>
    <child link="left_qbhand_middle_knuckle_link"/>
    <axis xyz="0 0 -1"/>
    <dynamics damping="0.0" friction="0.0"/>
    <limit effort="100" lower="-0.524" upper="0.524" velocity="100"/>
    <mimic joint="left_qbhand_synergy_joint" multiplier="0.0"/>
  </joint>
  <link name="left_qbhand_middle_knuckle_link">
    <inertial>
      <mass value="0.0095"/>
      <origin rpy="0 0 0" xyz="4.2753603e-04  0.0 -1.4321738e-03"/>
      <inertia ixx="6.4337303e-07" ixy="0.0" ixz="-3.9373913e-08" iyy="1.1253771e-06" iyz="0.0" izz="7.2336948e-07"/>
    </inertial>
    <visual>
      <origin rpy="0 0 0" xyz="0 0 0"/>
      <geometry>
        <mesh filename="../meshes/qbhand/ph_knuckle_yupzfront1.STL" scale="1 1 1"/>
      </geometry>
      <material name="qbhand/knuckle">
        <color rgba="0.35 0.35 0.35 1.0"/>
      </material>
    </visual>
    <collision>
      <origin rpy="0 0 0" xyz="0 0 0"/>
      <geometry>
        <mesh filename="../meshes/qbhand/ph_knuckle_yupzfront1.STL" scale="1 1 1"/>
      </geometry>
    </collision>
  </link>
  <joint name="left_qbhand_middle_proximal_joint" type="revolute">
    <origin rpy="1.57 0 0" xyz="0.009 0 0"/>
    <parent link="left_qbhand_middle_knuckle_link"/>
    <child link="left_qbhand_middle_proximal_virtual_link"/>
    <axis xyz="0 0 -1"/>
    <dynamics damping="0.0" friction="0.0"/>
    <limit effort="100" lower="0.0" upper="0.785" velocity="100"/>
    <mimic joint="left_qbhand_synergy_joint" multiplier="0.785"/>
  </joint>
  <link name="left_qbhand_middle_proximal_virtual_link">
    <inertial>
      <origin rpy="0 0 0" xyz="0 0 0"/>
      <mass value="1e-4"/>
      <inertia ixx="1e-9" ixy="0.0" ixz="0.0" iyy="1e-9" iyz="0.0" izz="1e-9"/>
    </inertial>
  </link>
  <joint name="left_qbhand_middle_proximal_virtual_joint" type="revolute">
    <origin rpy="0 0 0" xyz="0.013 0 0"/>
    <parent link="left_qbhand_middle_proximal_virtual_link"/>
    <child link="left_qbhand_middle_proximal_link"/>
    <axis xyz="0 0 -1"/>
    <dynamics damping="0.0" friction="0.0"/>
    <limit effort="100" lower="0.0" upper="0.785" velocity="100"/>
    <mimic joint="left_qbhand_middle_proximal_joint" multiplier="1.0"/>
  </joint>
  <link name="left_qbhand_middle_proximal_link">
    <inertial>
      <mass value="0.0082"/>
      <origin rpy="0 0 0" xyz="8.7707437e-03 -1.7863138e-03 0.0"/>
      <inertia ixx="2.2722068e-07" ixy="1.1586053e-08" ixz="0.0" iyy="5.5947233e-07" iyz="0.0" izz="5.9562195e-07"/>
    </inertial>
    <visual>
      <origin rpy="0 0 0" xyz="0 0 0"/>
      <geometry>
        <mesh filename="../meshes/qbhand/ph_medium_yupzfront1.STL" scale="1 1 1"/>
      </geometry>
      <material name="qbhand/proximal">
        <color rgba="0.35 0.35 0.35 1.0"/>
      </material>
    </visual>
    <collision>
      <origin rpy="0 0 0" xyz="0 0 0"/>
      <geometry>
        <mesh filename="../meshes/qbhand/ph_medium_yupzfront1.STL" scale="1 1 1"/>
      </geometry>
    </collision>
  </link>
  <joint name="left_qbhand_middle_middle_joint" type="revolute">
    <origin rpy="0 0 0" xyz="0.017 0 0"/>
    <parent link="left_qbhand_middle_proximal_link"/>
    <child link="left_qbhand_middle_middle_virtual_link"/>
    <axis xyz="0 0 -1"/>
    <dynamics damping="0.0" friction="0.0"/>
    <limit effort="100" lower="0.0" upper="0.785" velocity="100"/>
    <mimic joint="left_qbhand_synergy_joint" multiplier="0.785"/>
  </joint>
  <link name="left_qbhand_middle_middle_virtual_link">
    <inertial>
      <origin rpy="0 0 0" xyz="0 0 0"/>
      <mass value="1e-4"/>
      <inertia ixx="1e-9" ixy="0.0" ixz="0.0" iyy="1e-9" iyz="0.0" izz="1e-9"/>
    </inertial>
  </link>
  <joint name="left_qbhand_middle_middle_virtual_joint" type="revolute">
    <origin rpy="0 0 0" xyz="0.013 0 0"/>
    <parent link="left_qbhand_middle_middle_virtual_link"/>
    <child link="left_qbhand_middle_middle_link"/>
    <axis xyz="0 0 -1"/>
    <dynamics damping="0.0" friction="0.0"/>
    <limit effort="100" lower="0.0" upper="0.785" velocity="100"/>
    <mimic joint="left_qbhand_middle_middle_joint" multiplier="1.0"/>
  </joint>
  <link name="left_qbhand_middle_middle_link">
    <inertial>
      <mass value="0.0063"/>
      <origin rpy="0 0 0" xyz="4.7601567e-03 -1.3786947e-03 0.0"/>
      <inertia ixx="1.8024201e-07" ixy="5.756798e-09" ixz="0.0" iyy="2.3516266e-07" iyz="0.0" izz="2.691504e-07"/>
    </inertial>
    <visual>
      <origin rpy="0 0 0" xyz="0 0 0"/>
      <geometry>
        <mesh filename="../meshes/qbhand/ph_short_yupzfront1.STL" scale="1 1 1"/>
      </geometry>
      <material name="qbhand/middle">
        <color rgba="0.35 0.35 0.35 1.0"/>
      </material>
    </visual>
    <collision>
      <origin rpy="0 0 0" xyz="0 0 0"/>
      <geometry>
        <mesh filename="../meshes/qbhand/ph_short_yupzfront1.STL" scale="1 1 1"/>
      </geometry>
    </collision>
  </link>
  <joint name="left_qbhand_middle_distal_joint" type="revolute">
    <origin rpy="0 0 0" xyz="0.009 0 0"/>
    <parent link="left_qbhand_middle_middle_link"/>
    <child link="left_qbhand_middle_distal_virtual_link"/>
    <axis xyz="0 0 -1"/>
    <dynamics damping="0.0" friction="0.0"/>
    <limit effort="100" lower="0.0" upper="0.785" velocity="100"/>
    <mimic joint="left_qbhand_synergy_joint" multiplier="0.785"/>
  </joint>
  <link name="left_qbhand_middle_distal_virtual_link">
    <inertial>
      <origin rpy="0 0 0" xyz="0 0 0"/>
      <mass value="1e-4"/>
      <inertia ixx="1e-9" ixy="0.0" ixz="0.0" iyy="1e-9" iyz="0.0" izz="1e-9"/>
    </inertial>
  </link>
  <joint name="left_qbhand_middle_distal_virtual_joint" type="revolute">
    <origin rpy="0 0 0" xyz="0.013 0 0"/>
    <parent link="left_qbhand_middle_distal_virtual_link"/>
    <child link="left_qbhand_middle_distal_link"/>
    <axis xyz="0 0 -1"/>
    <dynamics damping="0.0" friction="0.0"/>
    <limit effort="100" lower="0.0" upper="0.785" velocity="100"/>
    <mimic joint="left_qbhand_middle_distal_joint" multiplier="1.0"/>
  </joint>
  <link name="left_qbhand_middle_distal_link">
    <inertial>
      <mass value="0.009"/>
      <origin rpy="0 0 0" xyz="8.8025467e-03 -1.7219289e-03 0.0"/>
      <inertia ixx="2.6586142e-07" ixy="1.2416847e-08" ixz="0.0" iyy="5.9935767e-07" iyz="0.0" izz="6.6781963e-07"/>
    </inertial>
    <visual>
      <origin rpy="0 0 0" xyz="0 0 0"/>
      <geometry>
        <mesh filename="../meshes/qbhand/ph_distal_yupzfront1.STL" scale="1 1 1"/>
      </geometry>
      <material name="qbhand/distal">
        <color rgba="0.35 0.35 0.35 1.0"/>
      </material>
    </visual>
    <collision>
      <origin rpy="0 0 0" xyz="0 0 0"/>
      <geometry>
        <mesh filename="../meshes/qbhand/ph_distal_yupzfront1.STL" scale="1 1 1"/>
      </geometry>
    </collision>
  </link>
  <joint name="left_qbhand_ring_knuckle_joint" type="revolute">
    <origin rpy="0 3.14 -1.57" xyz="0.02 -0.007 -0.014"/>
    <parent link="left_qbhand_palm_link"/>
    <child link="left_qbhand_ring_knuckle_link"/>
    <axis xyz="0 0 -1"/>
    <dynamics damping="0.0" friction="0.0"/>
    <limit effort="100" lower="-0.524" upper="0.524" velocity="100"/>
    <mimic joint="left_qbhand_synergy_joint" multiplier="-0.2"/>
  </joint>
  <link name="left_qbhand_ring_knuckle_link">
    <inertial>
      <mass value="0.0095"/>
      <origin rpy="0 0 0" xyz="4.2753603e-04  0.0 -1.4321738e-03"/>
      <inertia ixx="6.4337303e-07" ixy="0.0" ixz="-3.9373913e-08" iyy="1.1253771e-06" iyz="0.0" izz="7.2336948e-07"/>
    </inertial>
    <visual>
      <origin rpy="0 0 0" xyz="0 0 0"/>
      <geometry>
        <mesh filename="../meshes/qbhand/ph_knuckle_yupzfront1.STL" scale="1 1 1"/>
      </geometry>
      <material name="qbhand/knuckle">
        <color rgba="0.35 0.35 0.35 1.0"/>
      </material>
    </visual>
    <collision>
      <origin rpy="0 0 0" xyz="0 0 0"/>
      <geometry>
        <mesh filename="../meshes/qbhand/ph_knuckle_yupzfront1.STL" scale="1 1 1"/>
      </geometry>
    </collision>
  </link>
  <joint name="left_qbhand_ring_proximal_joint" type="revolute">
    <origin rpy="1.57 0 0" xyz="0.009 0 0"/>
    <parent link="left_qbhand_ring_knuckle_link"/>
    <child link="left_qbhand_ring_proximal_virtual_link"/>
    <axis xyz="0 0 -1"/>
    <dynamics damping="0.0" friction="0.0"/>
    <limit effort="100" lower="0.0" upper="0.785" velocity="100"/>
    <mimic joint="left_qbhand_synergy_joint" multiplier="0.785"/>
  </joint>
  <link name="left_qbhand_ring_proximal_virtual_link">
    <inertial>
      <origin rpy="0 0 0" xyz="0 0 0"/>
      <mass value="1e-4"/>
      <inertia ixx="1e-9" ixy="0.0" ixz="0.0" iyy="1e-9" iyz="0.0" izz="1e-9"/>
    </inertial>
  </link>
  <joint name="left_qbhand_ring_proximal_virtual_joint" type="revolute">
    <origin rpy="0 0 0" xyz="0.013 0 0"/>
    <parent link="left_qbhand_ring_proximal_virtual_link"/>
    <child link="left_qbhand_ring_proximal_link"/>
    <axis xyz="0 0 -1"/>
    <dynamics damping="0.0" friction="0.0"/>
    <limit effort="100" lower="0.0" upper="0.785" velocity="100"/>
    <mimic joint="left_qbhand_ring_proximal_joint" multiplier="1.0"/>
  </joint>
  <link name="left_qbhand_ring_proximal_link">
    <inertial>
      <mass value="0.0082"/>
      <origin rpy="0 0 0" xyz="8.7707437e-03 -1.7863138e-03 0.0"/>
      <inertia ixx="2.2722068e-07" ixy="1.1586053e-08" ixz="0.0" iyy="5.5947233e-07" iyz="0.0" izz="5.9562195e-07"/>
    </inertial>
    <visual>
      <origin rpy="0 0 0" xyz="0 0 0"/>
      <geometry>
        <mesh filename="../meshes/qbhand/ph_medium_yupzfront1.STL" scale="1 1 1"/>
      </geometry>
      <material name="qbhand/proximal">
        <color rgba="0.35 0.35 0.35 1.0"/>
      </material>
    </visual>
    <collision>
      <origin rpy="0 0 0" xyz="0 0 0"/>
      <geometry>
        <mesh filename="../meshes/qbhand/ph_medium_yupzfront1.STL" scale="1 1 1"/>
      </geometry>
    </collision>
  </link>
  <joint name="left_qbhand_ring_middle_joint" type="revolute">
    <origin rpy="0 0 0" xyz="0.017 0 0"/>
    <parent link="left_qbhand_ring_proximal_link"/>
    <child link="left_qbhand_ring_middle_virtual_link"/>
    <axis xyz="0 0 -1"/>
    <dynamics damping="0.0" friction="0.0"/>
    <limit effort="100" lower="0.0" upper="0.785" velocity="100"/>
    <mimic joint="left_qbhand_synergy_joint" multiplier="0.785"/>
  </joint>
  <link name="left_qbhand_ring_middle_virtual_link">
    <inertial>
      <origin rpy="0 0 0" xyz="0 0 0"/>
      <mass value="1e-4"/>
      <inertia ixx="1e-9" ixy="0.0" ixz="0.0" iyy="1e-9" iyz="0.0" izz="1e-9"/>
    </inertial>
  </link>
  <joint name="left_qbhand_ring_middle_virtual_joint" type="revolute">
    <origin rpy="0 0 0" xyz="0.013 0 0"/>
    <parent link="left_qbhand_ring_middle_virtual_link"/>
    <child link="left_qbhand_ring_middle_link"/>
    <axis xyz="0 0 -1"/>
    <dynamics damping="0.0" friction="0.0"/>
    <limit effort="100" lower="0.0" upper="0.785" velocity="100"/>
    <mimic joint="left_qbhand_ring_middle_joint" multiplier="1.0"/>
  </joint>
  <link name="left_qbhand_ring_middle_link">
    <inertial>
      <mass value="0.0063"/>
      <origin rpy="0 0 0" xyz="4.7601567e-03 -1.3786947e-03 0.0"/>
      <inertia ixx="1.8024201e-07" ixy="5.756798e-09" ixz="0.0" iyy="2.3516266e-07" iyz="0.0" izz="2.691504e-07"/>
    </inertial>
    <visual>
      <origin rpy="0 0 0" xyz="0 0 0"/>
      <geometry>
        <mesh filename="../meshes/qbhand/ph_short_yupzfront1.STL" scale="1 1 1"/>
      </geometry>
      <material name="qbhand/middle">
        <color rgba="0.35 0.35 0.35 1.0"/>
      </material>
    </visual>
    <collision>
      <origin rpy="0 0 0" xyz="0 0 0"/>
      <geometry>
        <mesh filename="../meshes/qbhand/ph_short_yupzfront1.STL" scale="1 1 1"/>
      </geometry>
    </collision>
  </link>
  <joint name="left_qbhand_ring_distal_joint" type="revolute">
    <origin rpy="0 0 0" xyz="0.009 0 0"/>
    <parent link="left_qbhand_ring_middle_link"/>
    <child link="left_qbhand_ring_distal_virtual_link"/>
    <axis xyz="0 0 -1"/>
    <dynamics damping="0.0" friction="0.0"/>
    <limit effort="100" lower="0.0" upper="0.785" velocity="100"/>
    <mimic joint="left_qbhand_synergy_joint" multiplier="0.785"/>
  </joint>
  <link name="left_qbhand_ring_distal_virtual_link">
    <inertial>
      <origin rpy="0 0 0" xyz="0 0 0"/>
      <mass value="1e-4"/>
      <inertia ixx="1e-9" ixy="0.0" ixz="0.0" iyy="1e-9" iyz="0.0" izz="1e-9"/>
    </inertial>
  </link>
  <joint name="left_qbhand_ring_distal_virtual_joint" type="revolute">
    <origin rpy="0 0 0" xyz="0.013 0 0"/>
    <parent link="left_qbhand_ring_distal_virtual_link"/>
    <child link="left_qbhand_ring_distal_link"/>
    <axis xyz="0 0 -1"/>
    <dynamics damping="0.0" friction="0.0"/>
    <limit effort="100" lower="0.0" upper="0.785" velocity="100"/>
    <mimic joint="left_qbhand_ring_distal_joint" multiplier="1.0"/>
  </joint>
  <link name="left_qbhand_ring_distal_link">
    <inertial>
      <mass value="0.009"/>
      <origin rpy="0 0 0" xyz="8.8025467e-03 -1.7219289e-03 0.0"/>
      <inertia ixx="2.6586142e-07" ixy="1.2416847e-08" ixz="0.0" iyy="5.9935767e-07" iyz="0.0" izz="6.6781963e-07"/>
    </inertial>
    <visual>
      <origin rpy="0 0 0" xyz="0 0 0"/>
      <geometry>
        <mesh filename="../meshes/qbhand/ph_distal_yupzfront1.STL" scale="1 1 1"/>
      </geometry>
      <material name="qbhand/distal">
        <color rgba="0.35 0.35 0.35 1.0"/>
      </material>
    </visual>
    <collision>
      <origin rpy="0 0 0" xyz="0 0 0"/>
      <geometry>
        <mesh filename="../meshes/qbhand/ph_distal_yupzfront1.STL" scale="1 1 1"/>
      </geometry>
    </collision>
  </link>
  <joint name="left_qbhand_little_knuckle_joint" type="revolute">
    <origin rpy="0 3.14 -1.57" xyz="0.04 -0.012 -0.014"/>
    <parent link="left_qbhand_palm_link"/>
    <child link="left_qbhand_little_knuckle_link"/>
    <axis xyz="0 0 -1"/>
    <dynamics damping="0.0" friction="0.0"/>
    <limit effort="100" lower="-0.524" upper="0.524" velocity="100"/>
    <mimic joint="left_qbhand_synergy_joint" multiplier="-0.4"/>
  </joint>
  <link name="left_qbhand_little_knuckle_link">
    <inertial>
      <mass value="0.0095"/>
      <origin rpy="0 0 0" xyz="4.2753603e-04  0.0 -1.4321738e-03"/>
      <inertia ixx="6.4337303e-07" ixy="0.0" ixz="-3.9373913e-08" iyy="1.1253771e-06" iyz="0.0" izz="7.2336948e-07"/>
    </inertial>
    <visual>
      <origin rpy="0 0 0" xyz="0 0 0"/>
      <geometry>
        <mesh filename="../meshes/qbhand/ph_knuckle_yupzfront1.STL" scale="1 1 1"/>
      </geometry>
      <material name="qbhand/knuckle">
        <color rgba="0.35 0.35 0.35 1.0"/>
      </material>
    </visual>
    <collision>
      <origin rpy="0 0 0" xyz="0 0 0"/>
      <geometry>
        <mesh filename="../meshes/qbhand/ph_knuckle_yupzfront1.STL" scale="1 1 1"/>
      </geometry>
    </collision>
  </link>
  <joint name="left_qbhand_little_proximal_joint" type="revolute">
    <origin rpy="1.57 0 0" xyz="0.009 0 0"/>
    <parent link="left_qbhand_little_knuckle_link"/>
    <child link="left_qbhand_little_proximal_virtual_link"/>
    <axis xyz="0 0 -1"/>
    <dynamics damping="0.0" friction="0.0"/>
    <limit effort="100" lower="0.0" upper="0.785" velocity="100"/>
    <mimic joint="left_qbhand_synergy_joint" multiplier="0.785"/>
  </joint>
  <link name="left_qbhand_little_proximal_virtual_link">
    <inertial>
      <origin rpy="0 0 0" xyz="0 0 0"/>
      <mass value="1e-4"/>
      <inertia ixx="1e-9" ixy="0.0" ixz="0.0" iyy="1e-9" iyz="0.0" izz="1e-9"/>
    </inertial>
  </link>
  <joint name="left_qbhand_little_proximal_virtual_joint" type="revolute">
    <origin rpy="0 0 0" xyz="0.013 0 0"/>
    <parent link="left_qbhand_little_proximal_virtual_link"/>
    <child link="left_qbhand_little_proximal_link"/>
    <axis xyz="0 0 -1"/>
    <dynamics damping="0.0" friction="0.0"/>
    <limit effort="100" lower="0.0" upper="0.785" velocity="100"/>
    <mimic joint="left_qbhand_little_proximal_joint" multiplier="1.0"/>
  </joint>
  <link name="left_qbhand_little_proximal_link">
    <inertial>
      <mass value="0.0063"/>
      <origin rpy="0 0 0" xyz="4.7601567e-03 -1.3786947e-03 0.0"/>
      <inertia ixx="1.8024201e-07" ixy="5.756798e-09" ixz="0.0" iyy="2.3516266e-07" iyz="0.0" izz="2.691504e-07"/>
    </inertial>
    <visual>
      <origin rpy="0 0 0" xyz="0 0 0"/>
      <geometry>
        <mesh filename="../meshes/qbhand/ph_short_yupzfront1.STL" scale="1 1 1"/>
      </geometry>
      <material name="qbhand/proximal">
        <color rgba="0.35 0.35 0.35 1.0"/>
      </material>
    </visual>
    <collision>
      <origin rpy="0 0 0" xyz="0 0 0"/>
      <geometry>
        <mesh filename="../meshes/qbhand/ph_short_yupzfront1.STL" scale="1 1 1"/>
      </geometry>
    </collision>
  </link>
  <joint name="left_qbhand_little_middle_joint" type="revolute">
    <origin rpy="0 0 0" xyz="0.009 0 0"/>
    <parent link="left_qbhand_little_proximal_link"/>
    <child link="left_qbhand_little_middle_virtual_link"/>
    <axis xyz="0 0 -1"/>
    <dynamics damping="0.0" friction="0.0"/>
    <limit effort="100" lower="0.0" upper="0.785" velocity="100"/>
    <mimic joint="left_qbhand_synergy_joint" multiplier="0.785"/>
  </joint>
  <link name="left_qbhand_little_middle_virtual_link">
    <inertial>
      <origin rpy="0 0 0" xyz="0 0 0"/>
      <mass value="1e-4"/>
      <inertia ixx="1e-9" ixy="0.0" ixz="0.0" iyy="1e-9" iyz="0.0" izz="1e-9"/>
    </inertial>
  </link>
  <joint name="left_qbhand_little_middle_virtual_joint" type="revolute">
    <origin rpy="0 0 0" xyz="0.013 0 0"/>
    <parent link="left_qbhand_little_middle_virtual_link"/>
    <child link="left_qbhand_little_middle_link"/>
    <axis xyz="0 0 -1"/>
    <dynamics damping="0.0" friction="0.0"/>
    <limit effort="100" lower="0.0" upper="0.785" velocity="100"/>
    <mimic joint="left_qbhand_little_middle_joint" multiplier="1.0"/>
  </joint>
  <link name="left_qbhand_little_middle_link">
    <inertial>
      <mass value="0.0063"/>
      <origin rpy="0 0 0" xyz="4.7601567e-03 -1.3786947e-03 0.0"/>
      <inertia ixx="1.8024201e-07" ixy="5.756798e-09" ixz="0.0" iyy="2.3516266e-07" iyz="0.0" izz="2.691504e-07"/>
    </inertial>
    <visual>
      <origin rpy="0 0 0" xyz="0 0 0"/>
      <geometry>
        <mesh filename="../meshes/qbhand/ph_short_yupzfront1.STL" scale="1 1 1"/>
      </geometry>
      <material name="qbhand/middle">
        <color rgba="0.35 0.35 0.35 1.0"/>
      </material>
    </visual>
    <collision>
      <origin rpy="0 0 0" xyz="0 0 0"/>
      <geometry>
        <mesh filename="../meshes/qbhand/ph_short_yupzfront1.STL" scale="1 1 1"/>
      </geometry>
    </collision>
  </link>
  <joint name="left_qbhand_little_distal_joint" type="revolute">
    <origin rpy="0 0 0" xyz="0.009 0 0"/>
    <parent link="left_qbhand_little_middle_link"/>
    <child link="left_qbhand_little_distal_virtual_link"/>
    <axis xyz="0 0 -1"/>
    <dynamics damping="0.0" friction="0.0"/>
    <limit effort="100" lower="0.0" upper="0.785" velocity="100"/>
    <mimic joint="left_qbhand_synergy_joint" multiplier="0.785"/>
  </joint>
  <link name="left_qbhand_little_distal_virtual_link">
    <inertial>
      <origin rpy="0 0 0" xyz="0 0 0"/>
      <mass value="1e-4"/>
      <inertia ixx="1e-9" ixy="0.0" ixz="0.0" iyy="1e-9" iyz="0.0" izz="1e-9"/>
    </inertial>
  </link>
  <joint name="left_qbhand_little_distal_virtual_joint" type="revolute">
    <origin rpy="0 0 0" xyz="0.013 0 0"/>
    <parent link="left_qbhand_little_distal_virtual_link"/>
    <child link="left_qbhand_little_distal_link"/>
    <axis xyz="0 0 -1"/>
    <dynamics damping="0.0" friction="0.0"/>
    <limit effort="100" lower="0.0" upper="0.785" velocity="100"/>
    <mimic joint="left_qbhand_little_distal_joint" multiplier="1.0"/>
  </joint>
  <link name="left_qbhand_little_distal_link">
    <inertial>
      <mass value="0.009"/>
      <origin rpy="0 0 0" xyz="8.8025467e-03 -1.7219289e-03 0.0"/>
      <inertia ixx="2.6586142e-07" ixy="1.2416847e-08" ixz="0.0" iyy="5.9935767e-07" iyz="0.0" izz="6.6781963e-07"/>
    </inertial>
    <visual>
      <origin rpy="0 0 0" xyz="0 0 0"/>
      <geometry>
        <mesh filename="../meshes/qbhand/ph_distal_yupzfront1.STL" scale="1 1 1"/>
      </geometry>
      <material name="qbhand/distal">
        <color rgba="0.35 0.35 0.35 1.0"/>
      </material>
    </visual>
    <collision>
      <origin rpy="0 0 0" xyz="0 0 0"/>
      <geometry>
        <mesh filename="../meshes/qbhand/ph_distal_yupzfront1.STL" scale="1 1 1"/>
      </geometry>
    </collision>
  </link>
  <joint name="left_qbhand_end_effector_fixed_joint" type="fixed">
    <origin rpy="-1.57 0 0" xyz="-0.03 0.060 0.142"/>
    <parent link="left_qbhand_base_link"/>
    <child link="left_qbhand_end_effector_link"/>
  </joint>
  <link name="left_qbhand_end_effector_link"/>
  <joint name="panda_right_joint_torso_end" type="fixed">
    <parent link="torso_end"/>
    <child link="panda_right_link0"/>
    <origin rpy="1.3685238493647454 0.913218224774749 0.6168337646727412" xyz="-0.08537 -0.07009 0.2535"/>
  </joint>
  <link name="panda_right_link0">
    <visual>
      <origin rpy="0 0 0" xyz="0 0 0"/>
      <geometry>
        <mesh filename="../meshes/franka/visual/link0.dae"/>
      </geometry>
    </visual>
    <collision>
      <origin rpy="0 0 0" xyz="0 0 0"/>
      <geometry>
        <mesh filename="../meshes/franka/collision/link0.stl"/>
      </geometry>
    </collision>
    <inertial>
      <!-- Estimated guesses from CAD -->
      <origin rpy="0 0 0" xyz="-0.041018 -0.00014 0.049974"/>
      <mass value="0.629769"/>
      <inertia ixx="0.00315" ixy="8.2904E-07" ixz="0.00015" iyy="0.00388" iyz="8.2299E-06" izz="0.004285"/>
    </inertial>
  </link>
  <link name="panda_right_link1">
    <visual>
      <origin rpy="0 0 0" xyz="0 0 0"/>
      <geometry>
        <mesh filename="../meshes/franka/visual/link1.dae"/>
      </geometry>
    </visual>
    <collision>
      <origin rpy="0 0 0" xyz="0 0 0"/>
      <geometry>
        <mesh filename="../meshes/franka/collision/link1.stl"/>
      </geometry>
    </collision>
    <inertial>
      <origin rpy="0 0 0" xyz="0.003875 0.002081 -0.04762"/>
      <mass value="4.970684"/>
      <inertia ixx="0.70337" ixy="-0.00013900" ixz="0.0067720" iyy="0.70661" iyz="0.019169" izz="0.0091170"/>
    </inertial>
  </link>
  <joint name="panda_right_joint1" type="revolute">
    <safety_controller k_position="100.0" k_velocity="40.0" soft_lower_limit="-2.8973" soft_upper_limit="2.8973"/>
    <origin rpy="0 0 0" xyz="0 0 0.333"/>
    <parent link="panda_right_link0"/>
    <child link="panda_right_link1"/>
    <axis xyz="0 0 1"/>
    <limit acceleration="15" effort="87" lower="-2.8973" upper="2.8973" velocity="2.1750"/>
    <dynamics D="1" K="7000" damping="0.003" friction="0.0" mu_coulomb="0" mu_viscous="16"/>
  </joint>
  <link name="panda_right_link2">
    <visual>
      <origin rpy="0 0 0" xyz="0 0 0"/>
      <geometry>
        <mesh filename="../meshes/franka/visual/link2.dae"/>
      </geometry>
    </visual>
    <collision>
      <origin rpy="0 0 0" xyz="0 0 0"/>
      <geometry>
        <mesh filename="../meshes/franka/collision/link2.stl"/>
      </geometry>
    </collision>
    <inertial>
      <origin rpy="0 0 0" xyz=" -0.003141 -0.02872  0.003495"/>
      <mass value="0.646926"/>
      <inertia ixx="0.0079620" ixy="-3.9250e-3" ixz="1.0254e-02" iyy="2.8110e-02" iyz="7.0400e-04" izz="2.5995e-02"/>
    </inertial>
  </link>
  <joint name="panda_right_joint2" type="revolute">
    <safety_controller k_position="100.0" k_velocity="40.0" soft_lower_limit="-1.7628" soft_upper_limit="1.7628"/>
    <origin rpy="-1.5707963267948966 0 0" xyz="0 0 0"/>
    <parent link="panda_right_link1"/>
    <child link="panda_right_link2"/>
    <axis xyz="0 0 1"/>
    <limit acceleration="7.5" effort="87" lower="-1.7628" upper="1.7628" velocity="2.1750"/>
    <dynamics D="1" K="7000" damping="0.003" friction="0.0" mu_coulomb="0" mu_viscous="16"/>
  </joint>
  <link name="panda_right_link3">
    <visual>
      <origin rpy="0 0 0" xyz="0 0 0"/>
      <geometry>
        <mesh filename="../meshes/franka/visual/link3.dae"/>
      </geometry>
    </visual>
    <collision>
      <origin rpy="0 0 0" xyz="0 0 0"/>
      <geometry>
        <mesh filename="../meshes/franka/collision/link3.stl"/>
      </geometry>
    </collision>
    <inertial>
      <origin rpy="0 0 0" xyz="2.7518e-02 3.9252e-02 -6.6502e-02"/>
      <mass value="3.228604"/>
      <inertia ixx="3.7242e-02" ixy="-4.7610e-03" ixz="-1.1396e-02" iyy="3.6155e-02" iyz="-1.2805e-02" izz="1.0830e-02"/>
    </inertial>
  </link>
  <joint name="panda_right_joint3" type="revolute">
    <safety_controller k_position="100.0" k_velocity="40.0" soft_lower_limit="-2.8973" soft_upper_limit="2.8973"/>
    <origin rpy="1.5707963267948966 0 0" xyz="0 -0.316 0"/>
    <parent link="panda_right_link2"/>
    <child link="panda_right_link3"/>
    <axis xyz="0 0 1"/>
    <limit acceleration="12.5" effort="87" lower="-2.8973" upper="2.8973" velocity="2.1750"/>
    <dynamics D="1" K="7000" damping="0.003" friction="0.0" mu_coulomb="0" mu_viscous="16"/>
  </joint>
  <link name="panda_right_link4">
    <visual>
      <origin rpy="0 0 0" xyz="0 0 0"/>
      <geometry>
        <mesh filename="../meshes/franka/visual/link4.dae"/>
      </geometry>
    </visual>
    <collision>
      <origin rpy="0 0 0" xyz="0 0 0"/>
      <geometry>
        <mesh filename="../meshes/franka/collision/link4.stl"/>
      </geometry>
    </collision>
    <inertial>
      <origin rpy="0 0 0" xyz="-5.317e-02 1.04419e-01 2.7454e-02"/>
      <mass value="3.587895"/>
      <inertia ixx="2.5853e-02" ixy="7.7960e-03" ixz="-1.3320e-03" iyy="1.9552e-02" iyz="8.6410e-03" izz="2.8323e-02"/>
    </inertial>
  </link>
  <joint name="panda_right_joint4" type="revolute">
    <safety_controller k_position="100.0" k_velocity="40.0" soft_lower_limit="-3.0718" soft_upper_limit="-0.0698"/>
    <origin rpy="1.5707963267948966 0 0" xyz="0.0825 0 0"/>
    <parent link="panda_right_link3"/>
    <child link="panda_right_link4"/>
    <axis xyz="0 0 1"/>
    <limit acceleration="12.5" effort="87" lower="-3.0718" upper="-0.0698" velocity="2.1750"/>
    <dynamics D="1" K="7000" damping="0.003" friction="0.0" mu_coulomb="0" mu_viscous="16"/>
  </joint>
  <link name="panda_right_link5">
    <visual>
      <origin rpy="0 0 0" xyz="0 0 0"/>
      <geometry>
        <mesh filename="../meshes/franka/visual/link5.dae"/>
      </geometry>
    </visual>
    <collision>
      <origin rpy="0 0 0" xyz="0 0 0"/>
      <geometry>
        <mesh filename="../meshes/franka/collision/link5.stl"/>
      </geometry>
    </collision>
    <inertial>
      <origin rpy="0 0 0" xyz="-1.1953e-02 4.1065e-02 -3.8437e-02"/>
      <mass value="1.225946"/>
      <inertia ixx="3.5549e-02" ixy="-2.1170e-03" ixz="-4.0370e-03" iyy="2.9474e-02" iyz="2.2900e-04" izz="8.6270e-03"/>
    </inertial>
  </link>
  <joint name="panda_right_joint5" type="revolute">
    <safety_controller k_position="100.0" k_velocity="40.0" soft_lower_limit="-2.8973" soft_upper_limit="2.8973"/>
    <origin rpy="-1.5707963267948966 0 0" xyz="-0.0825 0.384 0"/>
    <parent link="panda_right_link4"/>
    <child link="panda_right_link5"/>
    <axis xyz="0 0 1"/>
    <limit acceleration="15" effort="12" lower="-2.8973" upper="2.8973" velocity="2.6100"/>
    <dynamics D="1" K="7000" damping="0.003" friction="0.0" mu_coulomb="0" mu_viscous="16"/>
  </joint>
  <link name="panda_right_link6">
    <visual>
      <origin rpy="0 0 0" xyz="0 0 0"/>
      <geometry>
        <mesh filename="../meshes/franka/visual/link6.dae"/>
      </geometry>
    </visual>
    <collision>
      <origin rpy="0 0 0" xyz="0 0 0"/>
      <geometry>
        <mesh filename="../meshes/franka/collision/link6.stl"/>
      </geometry>
    </collision>
    <inertial>
      <origin rpy="0 0 0" xyz="6.0149e-02 -1.4117e-02 -1.0517e-02"/>
      <mass value="1.666555"/>
      <inertia ixx="1.9640e-03" ixy="1.0900e-04" ixz="-1.1580e-03" iyy="4.3540e-03" iyz="3.4100e-04" izz="5.4330e-03"/>
    </inertial>
  </link>
  <joint name="panda_right_joint6" type="revolute">
    <safety_controller k_position="100.0" k_velocity="40.0" soft_lower_limit="-0.0175" soft_upper_limit="3.7525"/>
    <origin rpy="1.5707963267948966 0 0" xyz="0 0 0"/>
    <parent link="panda_right_link5"/>
    <child link="panda_right_link6"/>
    <axis xyz="0 0 1"/>
    <limit acceleration="20" effort="12" lower="-0.0175" upper="3.7525" velocity="2.6100"/>
    <dynamics D="1" K="7000" damping="0.003" friction="0.0" mu_coulomb="0" mu_viscous="16"/>
  </joint>
  <link name="panda_right_link7">
    <visual>
      <origin rpy="0 0 0" xyz="0 0 0"/>
      <geometry>
        <mesh filename="../meshes/franka/visual/link7.dae"/>
      </geometry>
    </visual>
    <collision>
      <origin rpy="0 0 0" xyz="0 0 0"/>
      <geometry>
        <mesh filename="../meshes/franka/collision/link7.stl"/>
      </geometry>
    </collision>
    <inertial>
      <origin rpy="0 0 0" xyz="1.0517e-02 -4.252e-03 6.1597e-02"/>
      <mass value="7.35522e-01"/>
      <inertia ixx="1.2516e-02" ixy="-4.2800e-04" ixz="-1.1960e-03" iyy="1.0027e-02" iyz="-7.4100e-04" izz="4.8150e-03"/>
    </inertial>
  </link>
  <joint name="panda_right_joint7" type="revolute">
    <safety_controller k_position="100.0" k_velocity="40.0" soft_lower_limit="-2.8973" soft_upper_limit="2.8973"/>
    <origin rpy="1.5707963267948966 0 0" xyz="0.088 0 0"/>
    <parent link="panda_right_link6"/>
    <child link="panda_right_link7"/>
    <axis xyz="0 0 1"/>
    <limit acceleration="20" effort="12" lower="-2.8973" upper="2.8973" velocity="2.6100"/>
    <dynamics D="1" K="7000" damping="0.003" friction="0.0" mu_coulomb="0" mu_viscous="16"/>
  </joint>
  <joint name="panda_right_end_effector_joint" type="fixed">
    <parent link="panda_right_link7"/>
    <child link="right_hand_root_link"/>
    <origin rpy="0 0 -0.7853981633974483" xyz="0 0 0.107"/>
  </joint>
  <link name="right_hand_root_link"/>
  <joint name="right_qbhand_flange_joint" type="fixed">
    <origin rpy="0 0 -2.3562" xyz="0 0 0"/>
    <parent link="right_hand_root_link"/>
    <child link="flange90_r"/>
  </joint>
  <link name="flange90_r">
    <visual>
      <origin rpy="0 0 0" xyz="0 0 0"/>
      <geometry>
        <mesh filename="../meshes/clover/visual/flange90_yup.dae"/>
      </geometry>
    </visual>
    <collision>
      <origin rpy="0 0 0" xyz="0 0 0"/>
      <geometry>
        <mesh filename="../meshes/clover/visual/flange90_yup.stl"/>
      </geometry>
    </collision>
  </link>
  <joint name="right_qbhand_base_fixed_joint" type="fixed">
    <origin rpy="1.5708 0 1.5708" xyz="0.046 0 0.038"/>
    <parent link="flange90_r"/>
    <child link="right_qbhand_base_link"/>
  </joint>
  <link name="right_qbhand_base_link">
    <inertial>
      <mass value="0.45"/>
      <origin rpy="0 0 0" xyz="0.0030 -0.0449 0.0135"/>
      <inertia ixx="0.00045" ixy="0.0" ixz="0.0" iyy="0.0006" iyz="0.0" izz="0.00025"/>
    </inertial>
    <visual>
      <origin rpy="0 0 0" xyz="0 0 0"/>
      <geometry>
        <mesh filename="../meshes/qbhand/flange_iso_04_yupzfront.STL" scale="1 1 1"/>
      </geometry>
      <material name="qbhand/base"/>
    </visual>
    <collision>
      <origin rpy="0 0 0" xyz="0 0 0"/>
      <geometry>
        <mesh filename="../meshes/qbhand/flange_iso_04_yupzfront.STL" scale="1 1 1"/>
      </geometry>
    </collision>
  </link>
  <joint name="right_qbhand_palm_fixed_joint" type="fixed">
    <origin rpy="1.57 0 0" xyz="-0.0045 0.0145 0.144"/>
    <parent link="right_qbhand_base_link"/>
    <child link="right_qbhand_palm_link"/>
  </joint>
  <link name="right_qbhand_palm_link">
    <inertial>
      <mass value="0.45"/>
      <origin rpy="0 0 0" xyz="0.0030 -0.0449 0.0135"/>
      <inertia ixx="0.00045" ixy="0.0" ixz="0.0" iyy="0.0006" iyz="0.0" izz="0.00025"/>
    </inertial>
    <visual>
      <origin rpy="0 0 0" xyz="0 0 0"/>
      <geometry>
        <mesh filename="../meshes/qbhand/palm_pinch_r_yupzfront2.STL" scale="1 1 1"/>
      </geometry>
      <material name="qbhand/palm"/>
    </visual>
    <collision>
      <origin rpy="0 0 0" xyz="0 0 0"/>
      <geometry>
        <mesh filename="../meshes/qbhand/palm_pinch_r.stl" scale="0.001 0.001 0.001"/>
      </geometry>
    </collision>
  </link>
  <joint name="right_qbhand_synergy_joint" type="revolute">
    <origin rpy="0 0 0" xyz="0 0 0"/>
    <parent link="right_qbhand_palm_link"/>
    <child link="right_qbhand_synergy_tendon_virtual_link"/>
    <axis xyz="0 0 1"/>
    <dynamics damping="0.0" friction="0.0"/>
    <limit effort="100" lower="0.0" upper="1.0" velocity="100"/>
  </joint>
  <transmission name="right_qbhand_synergy_transmission">
    <type>transmission_interface/qbMoveTransmission</type>
    <joint name="right_qbhand_synergy_joint">
      <hardwareInterface>hardware_interface/EffortJointInterface</hardwareInterface>
    </joint>
    <actuator name="right_qbhand_synergy_joint">
      <hardwareInterface>hardware_interface/EffortJointInterface</hardwareInterface>
    </actuator>
  </transmission>
  <link name="right_qbhand_synergy_tendon_virtual_link">
    <inertial>
      <origin rpy="0 0 0" xyz="0 0 0"/>
      <mass value="1e-4"/>
      <inertia ixx="1e-9" ixy="0.0" ixz="0.0" iyy="1e-9" iyz="0.0" izz="1e-9"/>
    </inertial>
  </link>
  <joint name="right_qbhand_thumb_knuckle_joint" type="revolute">
    <origin rpy="-1.57 3.14 0.0" xyz="-0.044 -0.0465 -0.002"/>
    <parent link="right_qbhand_palm_link"/>
    <child link="right_qbhand_thumb_knuckle_link"/>
    <axis xyz="0 0 -1"/>
    <dynamics damping="0.0" friction="0.0"/>
    <limit effort="100" lower="0.0" upper="1.571" velocity="100"/>
    <mimic joint="right_qbhand_synergy_joint" multiplier="2.542"/>
  </joint>
  <link name="right_qbhand_thumb_knuckle_link">
    <inertial>
      <mass value="0.01"/>
      <origin rpy="0 0 0" xyz="1.3071561e-02 -2.7357764e-03 6.4347823e-04"/>
      <inertia ixx="3.5865978e-07" ixy="2.0944224e-07" ixz="-6.8657569e-08" iyy="1.3885564e-06" iyz="3.2170608e-08" izz="1.3571203e-06"/>
    </inertial>
    <visual>
      <origin rpy="0 0 0" xyz="0 0 0"/>
      <geometry>
        <mesh filename="../meshes/qbhand/ph_thumb_r_yupzfront1.STL" scale="1 1 1"/>
      </geometry>
      <material name="qbhand/knuckle"/>
    </visual>
    <collision>
      <origin rpy="0 0 0" xyz="0 0 0"/>
      <geometry>
        <mesh filename="../meshes/qbhand/ph_thumb_r_yupzfront1.STL" scale="1 1 1"/>
      </geometry>
    </collision>
  </link>
  <joint name="right_qbhand_thumb_proximal_joint" type="revolute">
    <origin rpy="-1.1415 0.0 0.0" xyz="0.0255 -0.0038 -0.00012"/>
    <parent link="right_qbhand_thumb_knuckle_link"/>
    <child link="right_qbhand_thumb_proximal_virtual_link"/>
    <axis xyz="0 0 -1"/>
    <dynamics damping="0.0" friction="0.0"/>
    <limit effort="100" lower="0.0" upper="0.785" velocity="100"/>
    <mimic joint="right_qbhand_synergy_joint" multiplier="0.785"/>
  </joint>
  <link name="right_qbhand_thumb_proximal_virtual_link">
    <inertial>
      <origin rpy="0 0 0" xyz="0 0 0"/>
      <mass value="1e-4"/>
      <inertia ixx="1e-9" ixy="0.0" ixz="0.0" iyy="1e-9" iyz="0.0" izz="1e-9"/>
    </inertial>
  </link>
  <joint name="right_qbhand_thumb_proximal_virtual_joint" type="revolute">
    <origin rpy="0 0 0" xyz="0.013 0 0"/>
    <parent link="right_qbhand_thumb_proximal_virtual_link"/>
    <child link="right_qbhand_thumb_proximal_link"/>
    <axis xyz="0 0 -1"/>
    <dynamics damping="0.0" friction="0.0"/>
    <limit effort="100" lower="0.0" upper="0.785" velocity="100"/>
    <mimic joint="right_qbhand_thumb_proximal_joint" multiplier="1.0"/>
  </joint>
  <link name="right_qbhand_thumb_proximal_link">
    <inertial>
      <mass value="0.0063"/>
      <origin rpy="0 0 0" xyz="4.7601567e-03 -1.3786947e-03 0.0"/>
      <inertia ixx="1.8024201e-07" ixy="5.756798e-09" ixz="0.0" iyy="2.3516266e-07" iyz="0.0" izz="2.691504e-07"/>
    </inertial>
    <visual>
      <origin rpy="0 0 0" xyz="0 0 0"/>
      <geometry>
        <mesh filename="../meshes/qbhand/ph_short_yupzfront1.STL" scale="1 1 1"/>
      </geometry>
      <material name="qbhand/proximal"/>
    </visual>
    <collision>
      <origin rpy="0 0 0" xyz="0 0 0"/>
      <geometry>
        <mesh filename="../meshes/qbhand/ph_short_yupzfront1.STL" scale="1 1 1"/>
      </geometry>
    </collision>
  </link>
  <joint name="right_qbhand_thumb_distal_joint" type="revolute">
    <origin rpy="0 0 0" xyz="0.009 0 0"/>
    <parent link="right_qbhand_thumb_proximal_link"/>
    <child link="right_qbhand_thumb_distal_virtual_link"/>
    <axis xyz="0 0 -1"/>
    <dynamics damping="0.0" friction="0.0"/>
    <limit effort="100" lower="0.0" upper="0.785" velocity="100"/>
    <mimic joint="right_qbhand_synergy_joint" multiplier="0.785"/>
  </joint>
  <link name="right_qbhand_thumb_distal_virtual_link">
    <inertial>
      <origin rpy="0 0 0" xyz="0 0 0"/>
      <mass value="1e-4"/>
      <inertia ixx="1e-9" ixy="0.0" ixz="0.0" iyy="1e-9" iyz="0.0" izz="1e-9"/>
    </inertial>
  </link>
  <joint name="right_qbhand_thumb_distal_virtual_joint" type="revolute">
    <origin rpy="0 0 0" xyz="0.013 0 0"/>
    <parent link="right_qbhand_thumb_distal_virtual_link"/>
    <child link="right_qbhand_thumb_distal_link"/>
    <axis xyz="0 0 -1"/>
    <dynamics damping="0.0" friction="0.0"/>
    <limit effort="100" lower="0.0" upper="0.785" velocity="100"/>
    <mimic joint="right_qbhand_thumb_distal_joint" multiplier="1.0"/>
  </joint>
  <link name="right_qbhand_thumb_distal_link">
    <inertial>
      <mass value="0.009"/>
      <origin rpy="0 0 0" xyz="8.8025467e-03 -1.7219289e-03 0.0"/>
      <inertia ixx="2.6586142e-07" ixy="1.2416847e-08" ixz="0.0" iyy="5.9935767e-07" iyz="0.0" izz="6.6781963e-07"/>
    </inertial>
    <visual>
      <origin rpy="0 0 0" xyz="0 0 0"/>
      <geometry>
        <mesh filename="../meshes/qbhand/ph_distal_yupzfront1.STL" scale="1 1 1"/>
      </geometry>
      <material name="qbhand/distal"/>
    </visual>
    <collision>
      <origin rpy="0 0 0" xyz="0 0 0"/>
      <geometry>
        <mesh filename="../meshes/qbhand/ph_distal_yupzfront1.STL" scale="1 1 1"/>
      </geometry>
    </collision>
  </link>
  <joint name="right_qbhand_index_knuckle_joint" type="revolute">
    <origin rpy="0 0 1.57" xyz="-0.02 -0.007 0.014"/>
    <parent link="right_qbhand_palm_link"/>
    <child link="right_qbhand_index_knuckle_link"/>
    <axis xyz="0 0 -1"/>
    <dynamics damping="0.0" friction="0.0"/>
    <limit effort="100" lower="-0.524" upper="0.524" velocity="100"/>
    <mimic joint="right_qbhand_synergy_joint" multiplier="-0.2"/>
  </joint>
  <link name="right_qbhand_index_knuckle_link">
    <inertial>
      <mass value="0.0095"/>
      <origin rpy="0 0 0" xyz="4.2753603e-04  0.0 -1.4321738e-03"/>
      <inertia ixx="6.4337303e-07" ixy="0.0" ixz="-3.9373913e-08" iyy="1.1253771e-06" iyz="0.0" izz="7.2336948e-07"/>
    </inertial>
    <visual>
      <origin rpy="0 0 0" xyz="0 0 0"/>
      <geometry>
        <mesh filename="../meshes/qbhand/ph_knuckle_yupzfront1.STL" scale="1 1 1"/>
      </geometry>
      <material name="qbhand/knuckle"/>
    </visual>
    <collision>
      <origin rpy="0 0 0" xyz="0 0 0"/>
      <geometry>
        <mesh filename="../meshes/qbhand/ph_knuckle_yupzfront1.STL" scale="1 1 1"/>
      </geometry>
    </collision>
  </link>
  <joint name="right_qbhand_index_proximal_joint" type="revolute">
    <origin rpy="1.57 0 0" xyz="0.009 0 0"/>
    <parent link="right_qbhand_index_knuckle_link"/>
    <child link="right_qbhand_index_proximal_virtual_link"/>
    <axis xyz="0 0 -1"/>
    <dynamics damping="0.0" friction="0.0"/>
    <limit effort="100" lower="0.0" upper="0.785" velocity="100"/>
    <mimic joint="right_qbhand_synergy_joint" multiplier="0.785"/>
  </joint>
  <link name="right_qbhand_index_proximal_virtual_link">
    <inertial>
      <origin rpy="0 0 0" xyz="0 0 0"/>
      <mass value="1e-4"/>
      <inertia ixx="1e-9" ixy="0.0" ixz="0.0" iyy="1e-9" iyz="0.0" izz="1e-9"/>
    </inertial>
  </link>
  <joint name="right_qbhand_index_proximal_virtual_joint" type="revolute">
    <origin rpy="0 0 0" xyz="0.013 0 0"/>
    <parent link="right_qbhand_index_proximal_virtual_link"/>
    <child link="right_qbhand_index_proximal_link"/>
    <axis xyz="0 0 -1"/>
    <dynamics damping="0.0" friction="0.0"/>
    <limit effort="100" lower="0.0" upper="0.785" velocity="100"/>
    <mimic joint="right_qbhand_index_proximal_joint" multiplier="1.0"/>
  </joint>
  <link name="right_qbhand_index_proximal_link">
    <inertial>
      <mass value="0.0082"/>
      <origin rpy="0 0 0" xyz="8.7707437e-03 -1.7863138e-03 0.0"/>
      <inertia ixx="2.2722068e-07" ixy="1.1586053e-08" ixz="0.0" iyy="5.5947233e-07" iyz="0.0" izz="5.9562195e-07"/>
    </inertial>
    <visual>
      <origin rpy="0 0 0" xyz="0 0 0"/>
      <geometry>
        <mesh filename="../meshes/qbhand/ph_medium_yupzfront1.STL" scale="1 1 1"/>
      </geometry>
      <material name="qbhand/proximal"/>
    </visual>
    <collision>
      <origin rpy="0 0 0" xyz="0 0 0"/>
      <geometry>
        <mesh filename="../meshes/qbhand/ph_medium_yupzfront1.STL" scale="1 1 1"/>
      </geometry>
    </collision>
  </link>
  <joint name="right_qbhand_index_middle_joint" type="revolute">
    <origin rpy="0 0 0" xyz="0.017 0 0"/>
    <parent link="right_qbhand_index_proximal_link"/>
    <child link="right_qbhand_index_middle_virtual_link"/>
    <axis xyz="0 0 -1"/>
    <dynamics damping="0.0" friction="0.0"/>
    <limit effort="100" lower="0.0" upper="0.785" velocity="100"/>
    <mimic joint="right_qbhand_synergy_joint" multiplier="0.785"/>
  </joint>
  <link name="right_qbhand_index_middle_virtual_link">
    <inertial>
      <origin rpy="0 0 0" xyz="0 0 0"/>
      <mass value="1e-4"/>
      <inertia ixx="1e-9" ixy="0.0" ixz="0.0" iyy="1e-9" iyz="0.0" izz="1e-9"/>
    </inertial>
  </link>
  <joint name="right_qbhand_index_middle_virtual_joint" type="revolute">
    <origin rpy="0 0 0" xyz="0.013 0 0"/>
    <parent link="right_qbhand_index_middle_virtual_link"/>
    <child link="right_qbhand_index_middle_link"/>
    <axis xyz="0 0 -1"/>
    <dynamics damping="0.0" friction="0.0"/>
    <limit effort="100" lower="0.0" upper="0.785" velocity="100"/>
    <mimic joint="right_qbhand_index_middle_joint" multiplier="1.0"/>
  </joint>
  <link name="right_qbhand_index_middle_link">
    <inertial>
      <mass value="0.0063"/>
      <origin rpy="0 0 0" xyz="4.7601567e-03 -1.3786947e-03 0.0"/>
      <inertia ixx="1.8024201e-07" ixy="5.756798e-09" ixz="0.0" iyy="2.3516266e-07" iyz="0.0" izz="2.691504e-07"/>
    </inertial>
    <visual>
      <origin rpy="0 0 0" xyz="0 0 0"/>
      <geometry>
        <mesh filename="../meshes/qbhand/ph_short_yupzfront1.STL" scale="1 1 1"/>
      </geometry>
      <material name="qbhand/middle"/>
    </visual>
    <collision>
      <origin rpy="0 0 0" xyz="0 0 0"/>
      <geometry>
        <mesh filename="../meshes/qbhand/ph_short_yupzfront1.STL" scale="1 1 1"/>
      </geometry>
    </collision>
  </link>
  <joint name="right_qbhand_index_distal_joint" type="revolute">
    <origin rpy="0 0 0" xyz="0.009 0 0"/>
    <parent link="right_qbhand_index_middle_link"/>
    <child link="right_qbhand_index_distal_virtual_link"/>
    <axis xyz="0 0 -1"/>
    <dynamics damping="0.0" friction="0.0"/>
    <limit effort="100" lower="0.0" upper="0.785" velocity="100"/>
    <mimic joint="right_qbhand_synergy_joint" multiplier="0.785"/>
  </joint>
  <link name="right_qbhand_index_distal_virtual_link">
    <inertial>
      <origin rpy="0 0 0" xyz="0 0 0"/>
      <mass value="1e-4"/>
      <inertia ixx="1e-9" ixy="0.0" ixz="0.0" iyy="1e-9" iyz="0.0" izz="1e-9"/>
    </inertial>
  </link>
  <joint name="right_qbhand_index_distal_virtual_joint" type="revolute">
    <origin rpy="0 0 0" xyz="0.013 0 0"/>
    <parent link="right_qbhand_index_distal_virtual_link"/>
    <child link="right_qbhand_index_distal_link"/>
    <axis xyz="0 0 -1"/>
    <dynamics damping="0.0" friction="0.0"/>
    <limit effort="100" lower="0.0" upper="0.785" velocity="100"/>
    <mimic joint="right_qbhand_index_distal_joint" multiplier="1.0"/>
  </joint>
  <link name="right_qbhand_index_distal_link">
    <inertial>
      <mass value="0.009"/>
      <origin rpy="0 0 0" xyz="8.8025467e-03 -1.7219289e-03 0.0"/>
      <inertia ixx="2.6586142e-07" ixy="1.2416847e-08" ixz="0.0" iyy="5.9935767e-07" iyz="0.0" izz="6.6781963e-07"/>
    </inertial>
    <visual>
      <origin rpy="0 0 0" xyz="0 0 0"/>
      <geometry>
        <mesh filename="../meshes/qbhand/ph_distal_yupzfront1.STL" scale="1 1 1"/>
      </geometry>
      <material name="qbhand/distal"/>
    </visual>
    <collision>
      <origin rpy="0 0 0" xyz="0 0 0"/>
      <geometry>
        <mesh filename="../meshes/qbhand/ph_distal_yupzfront1.STL" scale="1 1 1"/>
      </geometry>
    </collision>
  </link>
  <joint name="right_qbhand_middle_knuckle_joint" type="revolute">
    <origin rpy="0 0 1.57" xyz="0 0 0.014"/>
    <parent link="right_qbhand_palm_link"/>
    <child link="right_qbhand_middle_knuckle_link"/>
    <axis xyz="0 0 -1"/>
    <dynamics damping="0.0" friction="0.0"/>
    <limit effort="100" lower="-0.524" upper="0.524" velocity="100"/>
    <mimic joint="right_qbhand_synergy_joint" multiplier="0.0"/>
  </joint>
  <link name="right_qbhand_middle_knuckle_link">
    <inertial>
      <mass value="0.0095"/>
      <origin rpy="0 0 0" xyz="4.2753603e-04  0.0 -1.4321738e-03"/>
      <inertia ixx="6.4337303e-07" ixy="0.0" ixz="-3.9373913e-08" iyy="1.1253771e-06" iyz="0.0" izz="7.2336948e-07"/>
    </inertial>
    <visual>
      <origin rpy="0 0 0" xyz="0 0 0"/>
      <geometry>
        <mesh filename="../meshes/qbhand/ph_knuckle_yupzfront1.STL" scale="1 1 1"/>
      </geometry>
      <material name="qbhand/knuckle"/>
    </visual>
    <collision>
      <origin rpy="0 0 0" xyz="0 0 0"/>
      <geometry>
        <mesh filename="../meshes/qbhand/ph_knuckle_yupzfront1.STL" scale="1 1 1"/>
      </geometry>
    </collision>
  </link>
  <joint name="right_qbhand_middle_proximal_joint" type="revolute">
    <origin rpy="1.57 0 0" xyz="0.009 0 0"/>
    <parent link="right_qbhand_middle_knuckle_link"/>
    <child link="right_qbhand_middle_proximal_virtual_link"/>
    <axis xyz="0 0 -1"/>
    <dynamics damping="0.0" friction="0.0"/>
    <limit effort="100" lower="0.0" upper="0.785" velocity="100"/>
    <mimic joint="right_qbhand_synergy_joint" multiplier="0.785"/>
  </joint>
  <link name="right_qbhand_middle_proximal_virtual_link">
    <inertial>
      <origin rpy="0 0 0" xyz="0 0 0"/>
      <mass value="1e-4"/>
      <inertia ixx="1e-9" ixy="0.0" ixz="0.0" iyy="1e-9" iyz="0.0" izz="1e-9"/>
    </inertial>
  </link>
  <joint name="right_qbhand_middle_proximal_virtual_joint" type="revolute">
    <origin rpy="0 0 0" xyz="0.013 0 0"/>
    <parent link="right_qbhand_middle_proximal_virtual_link"/>
    <child link="right_qbhand_middle_proximal_link"/>
    <axis xyz="0 0 -1"/>
    <dynamics damping="0.0" friction="0.0"/>
    <limit effort="100" lower="0.0" upper="0.785" velocity="100"/>
    <mimic joint="right_qbhand_middle_proximal_joint" multiplier="1.0"/>
  </joint>
  <link name="right_qbhand_middle_proximal_link">
    <inertial>
      <mass value="0.0082"/>
      <origin rpy="0 0 0" xyz="8.7707437e-03 -1.7863138e-03 0.0"/>
      <inertia ixx="2.2722068e-07" ixy="1.1586053e-08" ixz="0.0" iyy="5.5947233e-07" iyz="0.0" izz="5.9562195e-07"/>
    </inertial>
    <visual>
      <origin rpy="0 0 0" xyz="0 0 0"/>
      <geometry>
        <mesh filename="../meshes/qbhand/ph_medium_yupzfront1.STL" scale="1 1 1"/>
      </geometry>
      <material name="qbhand/proximal"/>
    </visual>
    <collision>
      <origin rpy="0 0 0" xyz="0 0 0"/>
      <geometry>
        <mesh filename="../meshes/qbhand/ph_medium_yupzfront1.STL" scale="1 1 1"/>
      </geometry>
    </collision>
  </link>
  <joint name="right_qbhand_middle_middle_joint" type="revolute">
    <origin rpy="0 0 0" xyz="0.017 0 0"/>
    <parent link="right_qbhand_middle_proximal_link"/>
    <child link="right_qbhand_middle_middle_virtual_link"/>
    <axis xyz="0 0 -1"/>
    <dynamics damping="0.0" friction="0.0"/>
    <limit effort="100" lower="0.0" upper="0.785" velocity="100"/>
    <mimic joint="right_qbhand_synergy_joint" multiplier="0.785"/>
  </joint>
  <link name="right_qbhand_middle_middle_virtual_link">
    <inertial>
      <origin rpy="0 0 0" xyz="0 0 0"/>
      <mass value="1e-4"/>
      <inertia ixx="1e-9" ixy="0.0" ixz="0.0" iyy="1e-9" iyz="0.0" izz="1e-9"/>
    </inertial>
  </link>
  <joint name="right_qbhand_middle_middle_virtual_joint" type="revolute">
    <origin rpy="0 0 0" xyz="0.013 0 0"/>
    <parent link="right_qbhand_middle_middle_virtual_link"/>
    <child link="right_qbhand_middle_middle_link"/>
    <axis xyz="0 0 -1"/>
    <dynamics damping="0.0" friction="0.0"/>
    <limit effort="100" lower="0.0" upper="0.785" velocity="100"/>
    <mimic joint="right_qbhand_middle_middle_joint" multiplier="1.0"/>
  </joint>
  <link name="right_qbhand_middle_middle_link">
    <inertial>
      <mass value="0.0063"/>
      <origin rpy="0 0 0" xyz="4.7601567e-03 -1.3786947e-03 0.0"/>
      <inertia ixx="1.8024201e-07" ixy="5.756798e-09" ixz="0.0" iyy="2.3516266e-07" iyz="0.0" izz="2.691504e-07"/>
    </inertial>
    <visual>
      <origin rpy="0 0 0" xyz="0 0 0"/>
      <geometry>
        <mesh filename="../meshes/qbhand/ph_short_yupzfront1.STL" scale="1 1 1"/>
      </geometry>
      <material name="qbhand/middle"/>
    </visual>
    <collision>
      <origin rpy="0 0 0" xyz="0 0 0"/>
      <geometry>
        <mesh filename="../meshes/qbhand/ph_short_yupzfront1.STL" scale="1 1 1"/>
      </geometry>
    </collision>
  </link>
  <joint name="right_qbhand_middle_distal_joint" type="revolute">
    <origin rpy="0 0 0" xyz="0.009 0 0"/>
    <parent link="right_qbhand_middle_middle_link"/>
    <child link="right_qbhand_middle_distal_virtual_link"/>
    <axis xyz="0 0 -1"/>
    <dynamics damping="0.0" friction="0.0"/>
    <limit effort="100" lower="0.0" upper="0.785" velocity="100"/>
    <mimic joint="right_qbhand_synergy_joint" multiplier="0.785"/>
  </joint>
  <link name="right_qbhand_middle_distal_virtual_link">
    <inertial>
      <origin rpy="0 0 0" xyz="0 0 0"/>
      <mass value="1e-4"/>
      <inertia ixx="1e-9" ixy="0.0" ixz="0.0" iyy="1e-9" iyz="0.0" izz="1e-9"/>
    </inertial>
  </link>
  <joint name="right_qbhand_middle_distal_virtual_joint" type="revolute">
    <origin rpy="0 0 0" xyz="0.013 0 0"/>
    <parent link="right_qbhand_middle_distal_virtual_link"/>
    <child link="right_qbhand_middle_distal_link"/>
    <axis xyz="0 0 -1"/>
    <dynamics damping="0.0" friction="0.0"/>
    <limit effort="100" lower="0.0" upper="0.785" velocity="100"/>
    <mimic joint="right_qbhand_middle_distal_joint" multiplier="1.0"/>
  </joint>
  <link name="right_qbhand_middle_distal_link">
    <inertial>
      <mass value="0.009"/>
      <origin rpy="0 0 0" xyz="8.8025467e-03 -1.7219289e-03 0.0"/>
      <inertia ixx="2.6586142e-07" ixy="1.2416847e-08" ixz="0.0" iyy="5.9935767e-07" iyz="0.0" izz="6.6781963e-07"/>
    </inertial>
    <visual>
      <origin rpy="0 0 0" xyz="0 0 0"/>
      <geometry>
        <mesh filename="../meshes/qbhand/ph_distal_yupzfront1.STL" scale="1 1 1"/>
      </geometry>
      <material name="qbhand/distal"/>
    </visual>
    <collision>
      <origin rpy="0 0 0" xyz="0 0 0"/>
      <geometry>
        <mesh filename="../meshes/qbhand/ph_distal_yupzfront1.STL" scale="1 1 1"/>
      </geometry>
    </collision>
  </link>
  <joint name="right_qbhand_ring_knuckle_joint" type="revolute">
    <origin rpy="0 0 1.57" xyz="0.02 -0.007 0.014"/>
    <parent link="right_qbhand_palm_link"/>
    <child link="right_qbhand_ring_knuckle_link"/>
    <axis xyz="0 0 -1"/>
    <dynamics damping="0.0" friction="0.0"/>
    <limit effort="100" lower="-0.524" upper="0.524" velocity="100"/>
    <mimic joint="right_qbhand_synergy_joint" multiplier="0.2"/>
  </joint>
  <link name="right_qbhand_ring_knuckle_link">
    <inertial>
      <mass value="0.0095"/>
      <origin rpy="0 0 0" xyz="4.2753603e-04  0.0 -1.4321738e-03"/>
      <inertia ixx="6.4337303e-07" ixy="0.0" ixz="-3.9373913e-08" iyy="1.1253771e-06" iyz="0.0" izz="7.2336948e-07"/>
    </inertial>
    <visual>
      <origin rpy="0 0 0" xyz="0 0 0"/>
      <geometry>
        <mesh filename="../meshes/qbhand/ph_knuckle_yupzfront1.STL" scale="1 1 1"/>
      </geometry>
      <material name="qbhand/knuckle"/>
    </visual>
    <collision>
      <origin rpy="0 0 0" xyz="0 0 0"/>
      <geometry>
        <mesh filename="../meshes/qbhand/ph_knuckle_yupzfront1.STL" scale="1 1 1"/>
      </geometry>
    </collision>
  </link>
  <joint name="right_qbhand_ring_proximal_joint" type="revolute">
    <origin rpy="1.57 0 0" xyz="0.009 0 0"/>
    <parent link="right_qbhand_ring_knuckle_link"/>
    <child link="right_qbhand_ring_proximal_virtual_link"/>
    <axis xyz="0 0 -1"/>
    <dynamics damping="0.0" friction="0.0"/>
    <limit effort="100" lower="0.0" upper="0.785" velocity="100"/>
    <mimic joint="right_qbhand_synergy_joint" multiplier="0.785"/>
  </joint>
  <link name="right_qbhand_ring_proximal_virtual_link">
    <inertial>
      <origin rpy="0 0 0" xyz="0 0 0"/>
      <mass value="1e-4"/>
      <inertia ixx="1e-9" ixy="0.0" ixz="0.0" iyy="1e-9" iyz="0.0" izz="1e-9"/>
    </inertial>
  </link>
  <joint name="right_qbhand_ring_proximal_virtual_joint" type="revolute">
    <origin rpy="0 0 0" xyz="0.013 0 0"/>
    <parent link="right_qbhand_ring_proximal_virtual_link"/>
    <child link="right_qbhand_ring_proximal_link"/>
    <axis xyz="0 0 -1"/>
    <dynamics damping="0.0" friction="0.0"/>
    <limit effort="100" lower="0.0" upper="0.785" velocity="100"/>
    <mimic joint="right_qbhand_ring_proximal_joint" multiplier="1.0"/>
  </joint>
  <link name="right_qbhand_ring_proximal_link">
    <inertial>
      <mass value="0.0082"/>
      <origin rpy="0 0 0" xyz="8.7707437e-03 -1.7863138e-03 0.0"/>
      <inertia ixx="2.2722068e-07" ixy="1.1586053e-08" ixz="0.0" iyy="5.5947233e-07" iyz="0.0" izz="5.9562195e-07"/>
    </inertial>
    <visual>
      <origin rpy="0 0 0" xyz="0 0 0"/>
      <geometry>
        <mesh filename="../meshes/qbhand/ph_medium_yupzfront1.STL" scale="1 1 1"/>
      </geometry>
      <material name="qbhand/proximal"/>
    </visual>
    <collision>
      <origin rpy="0 0 0" xyz="0 0 0"/>
      <geometry>
        <mesh filename="../meshes/qbhand/ph_medium_yupzfront1.STL" scale="1 1 1"/>
      </geometry>
    </collision>
  </link>
  <joint name="right_qbhand_ring_middle_joint" type="revolute">
    <origin rpy="0 0 0" xyz="0.017 0 0"/>
    <parent link="right_qbhand_ring_proximal_link"/>
    <child link="right_qbhand_ring_middle_virtual_link"/>
    <axis xyz="0 0 -1"/>
    <dynamics damping="0.0" friction="0.0"/>
    <limit effort="100" lower="0.0" upper="0.785" velocity="100"/>
    <mimic joint="right_qbhand_synergy_joint" multiplier="0.785"/>
  </joint>
  <link name="right_qbhand_ring_middle_virtual_link">
    <inertial>
      <origin rpy="0 0 0" xyz="0 0 0"/>
      <mass value="1e-4"/>
      <inertia ixx="1e-9" ixy="0.0" ixz="0.0" iyy="1e-9" iyz="0.0" izz="1e-9"/>
    </inertial>
  </link>
  <joint name="right_qbhand_ring_middle_virtual_joint" type="revolute">
    <origin rpy="0 0 0" xyz="0.013 0 0"/>
    <parent link="right_qbhand_ring_middle_virtual_link"/>
    <child link="right_qbhand_ring_middle_link"/>
    <axis xyz="0 0 -1"/>
    <dynamics damping="0.0" friction="0.0"/>
    <limit effort="100" lower="0.0" upper="0.785" velocity="100"/>
    <mimic joint="right_qbhand_ring_middle_joint" multiplier="1.0"/>
  </joint>
  <link name="right_qbhand_ring_middle_link">
    <inertial>
      <mass value="0.0063"/>
      <origin rpy="0 0 0" xyz="4.7601567e-03 -1.3786947e-03 0.0"/>
      <inertia ixx="1.8024201e-07" ixy="5.756798e-09" ixz="0.0" iyy="2.3516266e-07" iyz="0.0" izz="2.691504e-07"/>
    </inertial>
    <visual>
      <origin rpy="0 0 0" xyz="0 0 0"/>
      <geometry>
        <mesh filename="../meshes/qbhand/ph_short_yupzfront1.STL" scale="1 1 1"/>
      </geometry>
      <material name="qbhand/middle"/>
    </visual>
    <collision>
      <origin rpy="0 0 0" xyz="0 0 0"/>
      <geometry>
        <mesh filename="../meshes/qbhand/ph_short_yupzfront1.STL" scale="1 1 1"/>
      </geometry>
    </collision>
  </link>
  <joint name="right_qbhand_ring_distal_joint" type="revolute">
    <origin rpy="0 0 0" xyz="0.009 0 0"/>
    <parent link="right_qbhand_ring_middle_link"/>
    <child link="right_qbhand_ring_distal_virtual_link"/>
    <axis xyz="0 0 -1"/>
    <dynamics damping="0.0" friction="0.0"/>
    <limit effort="100" lower="0.0" upper="0.785" velocity="100"/>
    <mimic joint="right_qbhand_synergy_joint" multiplier="0.785"/>
  </joint>
  <link name="right_qbhand_ring_distal_virtual_link">
    <inertial>
      <origin rpy="0 0 0" xyz="0 0 0"/>
      <mass value="1e-4"/>
      <inertia ixx="1e-9" ixy="0.0" ixz="0.0" iyy="1e-9" iyz="0.0" izz="1e-9"/>
    </inertial>
  </link>
  <joint name="right_qbhand_ring_distal_virtual_joint" type="revolute">
    <origin rpy="0 0 0" xyz="0.013 0 0"/>
    <parent link="right_qbhand_ring_distal_virtual_link"/>
    <child link="right_qbhand_ring_distal_link"/>
    <axis xyz="0 0 -1"/>
    <dynamics damping="0.0" friction="0.0"/>
    <limit effort="100" lower="0.0" upper="0.785" velocity="100"/>
    <mimic joint="right_qbhand_ring_distal_joint" multiplier="1.0"/>
  </joint>
  <link name="right_qbhand_ring_distal_link">
    <inertial>
      <mass value="0.009"/>
      <origin rpy="0 0 0" xyz="8.8025467e-03 -1.7219289e-03 0.0"/>
      <inertia ixx="2.6586142e-07" ixy="1.2416847e-08" ixz="0.0" iyy="5.9935767e-07" iyz="0.0" izz="6.6781963e-07"/>
    </inertial>
    <visual>
      <origin rpy="0 0 0" xyz="0 0 0"/>
      <geometry>
        <mesh filename="../meshes/qbhand/ph_distal_yupzfront1.STL" scale="1 1 1"/>
      </geometry>
      <material name="qbhand/distal"/>
    </visual>
    <collision>
      <origin rpy="0 0 0" xyz="0 0 0"/>
      <geometry>
        <mesh filename="../meshes/qbhand/ph_distal_yupzfront1.STL" scale="1 1 1"/>
      </geometry>
    </collision>
  </link>
  <joint name="right_qbhand_little_knuckle_joint" type="revolute">
    <origin rpy="0 0 1.57" xyz="0.04 -0.012 0.014"/>
    <parent link="right_qbhand_palm_link"/>
    <child link="right_qbhand_little_knuckle_link"/>
    <axis xyz="0 0 -1"/>
    <dynamics damping="0.0" friction="0.0"/>
    <limit effort="100" lower="-0.524" upper="0.524" velocity="100"/>
    <mimic joint="right_qbhand_synergy_joint" multiplier="0.4"/>
  </joint>
  <link name="right_qbhand_little_knuckle_link">
    <inertial>
      <mass value="0.0095"/>
      <origin rpy="0 0 0" xyz="4.2753603e-04  0.0 -1.4321738e-03"/>
      <inertia ixx="6.4337303e-07" ixy="0.0" ixz="-3.9373913e-08" iyy="1.1253771e-06" iyz="0.0" izz="7.2336948e-07"/>
    </inertial>
    <visual>
      <origin rpy="0 0 0" xyz="0 0 0"/>
      <geometry>
        <mesh filename="../meshes/qbhand/ph_knuckle_yupzfront1.STL" scale="1 1 1"/>
      </geometry>
      <material name="qbhand/knuckle"/>
    </visual>
    <collision>
      <origin rpy="0 0 0" xyz="0 0 0"/>
      <geometry>
        <mesh filename="../meshes/qbhand/ph_knuckle_yupzfront1.STL" scale="1 1 1"/>
      </geometry>
    </collision>
  </link>
  <joint name="right_qbhand_little_proximal_joint" type="revolute">
    <origin rpy="1.57 0 0" xyz="0.009 0 0"/>
    <parent link="right_qbhand_little_knuckle_link"/>
    <child link="right_qbhand_little_proximal_virtual_link"/>
    <axis xyz="0 0 -1"/>
    <dynamics damping="0.0" friction="0.0"/>
    <limit effort="100" lower="0.0" upper="0.785" velocity="100"/>
    <mimic joint="right_qbhand_synergy_joint" multiplier="0.785"/>
  </joint>
  <link name="right_qbhand_little_proximal_virtual_link">
    <inertial>
      <origin rpy="0 0 0" xyz="0 0 0"/>
      <mass value="1e-4"/>
      <inertia ixx="1e-9" ixy="0.0" ixz="0.0" iyy="1e-9" iyz="0.0" izz="1e-9"/>
    </inertial>
  </link>
  <joint name="right_qbhand_little_proximal_virtual_joint" type="revolute">
    <origin rpy="0 0 0" xyz="0.013 0 0"/>
    <parent link="right_qbhand_little_proximal_virtual_link"/>
    <child link="right_qbhand_little_proximal_link"/>
    <axis xyz="0 0 -1"/>
    <dynamics damping="0.0" friction="0.0"/>
    <limit effort="100" lower="0.0" upper="0.785" velocity="100"/>
    <mimic joint="right_qbhand_little_proximal_joint" multiplier="1.0"/>
  </joint>
  <link name="right_qbhand_little_proximal_link">
    <inertial>
      <mass value="0.0063"/>
      <origin rpy="0 0 0" xyz="4.7601567e-03 -1.3786947e-03 0.0"/>
      <inertia ixx="1.8024201e-07" ixy="5.756798e-09" ixz="0.0" iyy="2.3516266e-07" iyz="0.0" izz="2.691504e-07"/>
    </inertial>
    <visual>
      <origin rpy="0 0 0" xyz="0 0 0"/>
      <geometry>
        <mesh filename="../meshes/qbhand/ph_short_yupzfront1.STL" scale="1 1 1"/>
      </geometry>
      <material name="qbhand/proximal"/>
    </visual>
    <collision>
      <origin rpy="0 0 0" xyz="0 0 0"/>
      <geometry>
        <mesh filename="../meshes/qbhand/ph_short_yupzfront1.STL" scale="1 1 1"/>
      </geometry>
    </collision>
  </link>
  <joint name="right_qbhand_little_middle_joint" type="revolute">
    <origin rpy="0 0 0" xyz="0.009 0 0"/>
    <parent link="right_qbhand_little_proximal_link"/>
    <child link="right_qbhand_little_middle_virtual_link"/>
    <axis xyz="0 0 -1"/>
    <dynamics damping="0.0" friction="0.0"/>
    <limit effort="100" lower="0.0" upper="0.785" velocity="100"/>
    <mimic joint="right_qbhand_synergy_joint" multiplier="0.785"/>
  </joint>
  <link name="right_qbhand_little_middle_virtual_link">
    <inertial>
      <origin rpy="0 0 0" xyz="0 0 0"/>
      <mass value="1e-4"/>
      <inertia ixx="1e-9" ixy="0.0" ixz="0.0" iyy="1e-9" iyz="0.0" izz="1e-9"/>
    </inertial>
  </link>
  <joint name="right_qbhand_little_middle_virtual_joint" type="revolute">
    <origin rpy="0 0 0" xyz="0.013 0 0"/>
    <parent link="right_qbhand_little_middle_virtual_link"/>
    <child link="right_qbhand_little_middle_link"/>
    <axis xyz="0 0 -1"/>
    <dynamics damping="0.0" friction="0.0"/>
    <limit effort="100" lower="0.0" upper="0.785" velocity="100"/>
    <mimic joint="right_qbhand_little_middle_joint" multiplier="1.0"/>
  </joint>
  <link name="right_qbhand_little_middle_link">
    <inertial>
      <mass value="0.0063"/>
      <origin rpy="0 0 0" xyz="4.7601567e-03 -1.3786947e-03 0.0"/>
      <inertia ixx="1.8024201e-07" ixy="5.756798e-09" ixz="0.0" iyy="2.3516266e-07" iyz="0.0" izz="2.691504e-07"/>
    </inertial>
    <visual>
      <origin rpy="0 0 0" xyz="0 0 0"/>
      <geometry>
        <mesh filename="../meshes/qbhand/ph_short_yupzfront1.STL" scale="1 1 1"/>
      </geometry>
      <material name="qbhand/middle"/>
    </visual>
    <collision>
      <origin rpy="0 0 0" xyz="0 0 0"/>
      <geometry>
        <mesh filename="../meshes/qbhand/ph_short_yupzfront1.STL" scale="1 1 1"/>
      </geometry>
    </collision>
  </link>
  <joint name="right_qbhand_little_distal_joint" type="revolute">
    <origin rpy="0 0 0" xyz="0.009 0 0"/>
    <parent link="right_qbhand_little_middle_link"/>
    <child link="right_qbhand_little_distal_virtual_link"/>
    <axis xyz="0 0 -1"/>
    <dynamics damping="0.0" friction="0.0"/>
    <limit effort="100" lower="0.0" upper="0.785" velocity="100"/>
    <mimic joint="right_qbhand_synergy_joint" multiplier="0.785"/>
  </joint>
  <link name="right_qbhand_little_distal_virtual_link">
    <inertial>
      <origin rpy="0 0 0" xyz="0 0 0"/>
      <mass value="1e-4"/>
      <inertia ixx="1e-9" ixy="0.0" ixz="0.0" iyy="1e-9" iyz="0.0" izz="1e-9"/>
    </inertial>
  </link>
  <joint name="right_qbhand_little_distal_virtual_joint" type="revolute">
    <origin rpy="0 0 0" xyz="0.013 0 0"/>
    <parent link="right_qbhand_little_distal_virtual_link"/>
    <child link="right_qbhand_little_distal_link"/>
    <axis xyz="0 0 -1"/>
    <dynamics damping="0.0" friction="0.0"/>
    <limit effort="100" lower="0.0" upper="0.785" velocity="100"/>
    <mimic joint="right_qbhand_little_distal_joint" multiplier="1.0"/>
  </joint>
  <link name="right_qbhand_little_distal_link">
    <inertial>
      <mass value="0.009"/>
      <origin rpy="0 0 0" xyz="8.8025467e-03 -1.7219289e-03 0.0"/>
      <inertia ixx="2.6586142e-07" ixy="1.2416847e-08" ixz="0.0" iyy="5.9935767e-07" iyz="0.0" izz="6.6781963e-07"/>
    </inertial>
    <visual>
      <origin rpy="0 0 0" xyz="0 0 0"/>
      <geometry>
        <mesh filename="../meshes/qbhand/ph_distal_yupzfront1.STL" scale="1 1 1"/>
      </geometry>
      <material name="qbhand/distal"/>
    </visual>
    <collision>
      <origin rpy="0 0 0" xyz="0 0 0"/>
      <geometry>
        <mesh filename="../meshes/qbhand/ph_distal_yupzfront1.STL" scale="1 1 1"/>
      </geometry>
    </collision>
  </link>
  <joint name="right_qbhand_end_effector_fixed_joint" type="fixed">
    <origin rpy="-1.57 0 0" xyz="-0.03 0.060 0.142"/>
    <parent link="right_qbhand_base_link"/>
    <child link="right_qbhand_end_effector_link"/>
  </joint>
  <link name="right_qbhand_end_effector_link"/>
</robot>
